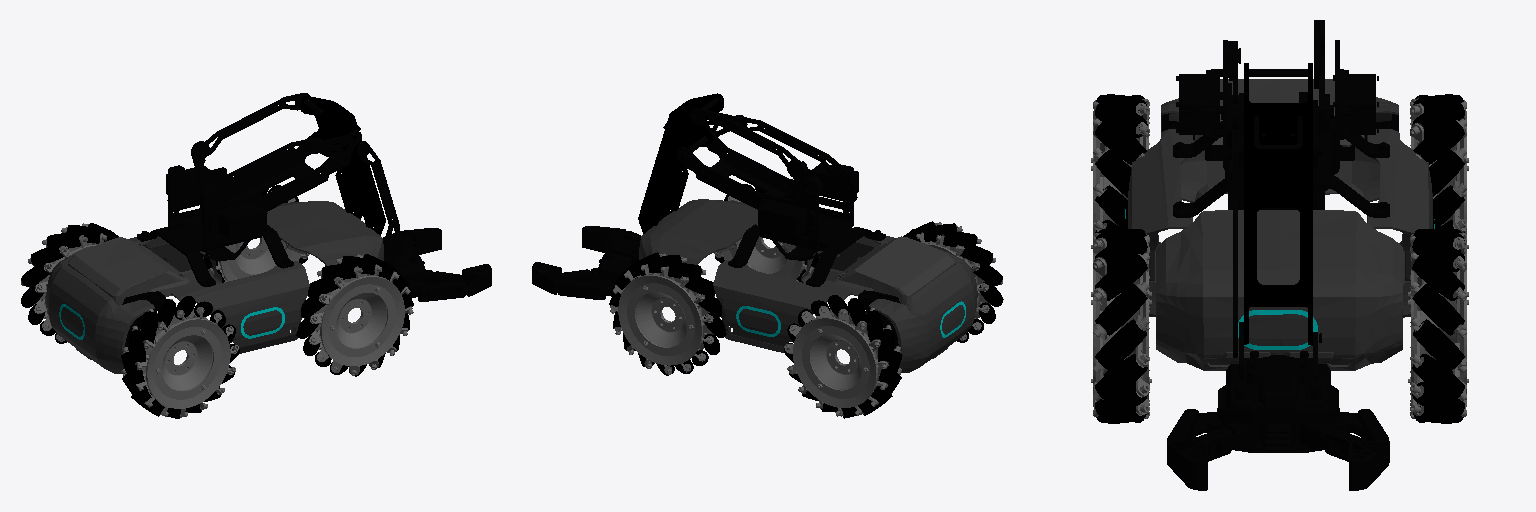
--- Facts derived from the render (not from the file) ---
3 views of the same robot in one strip: view 1: azimuth 30°, elevation 25°; view 2: azimuth 150°, elevation 25°; view 3: azimuth 270°, elevation 25° (orthographic).
Robot: robomaster_ep — 99 links, 98 joints (2 revolute, 64 continuous, 32 fixed); root link base_link; default pose: every joint at zero.
Visible links, largest first — view 1: chassis_base_link, arm_base_link, front_right_wheel_link, rear_right_wheel_link, arm_2_link, arm_1_link, front_left_wheel_link, rod_1_link, rod_3_link, rod_2_link, triangle_link, gripper_link (+5 smaller); view 2: chassis_base_link, arm_base_link, rear_left_wheel_link, front_left_wheel_link, arm_2_link, arm_1_link, front_right_wheel_link, rod_2_link, rod_3_link, gripper_link, right_gripper_link_5, left_gripper_link_5 (+4 smaller); view 3: chassis_base_link, arm_2_link, arm_base_link, gripper_link, front_right_wheel_link, front_left_wheel_link, right_gripper_link_5, left_gripper_link_5, front_left_roller7_link, front_left_roller8_link, front_right_roller7_link, front_right_roller8_link (+28 smaller).
Boxes of the visible links, x1=… form: chassis_base_link: x1=46, y1=201, x2=383, y2=373; arm_base_link: x1=137, y1=165, x2=293, y2=286; front_right_wheel_link: x1=304, y1=255, x2=412, y2=374; rear_right_wheel_link: x1=123, y1=308, x2=237, y2=417; arm_2_link: x1=301, y1=96, x2=385, y2=235; arm_1_link: x1=211, y1=132, x2=345, y2=211; front_left_wheel_link: x1=210, y1=193, x2=307, y2=282; rod_1_link: x1=357, y1=141, x2=399, y2=253; rod_3_link: x1=196, y1=93, x2=309, y2=158; rod_2_link: x1=206, y1=138, x2=317, y2=195; triangle_link: x1=308, y1=130, x2=361, y2=166; gripper_link: x1=384, y1=236, x2=425, y2=298; chassis_base_link: x1=639, y1=199, x2=977, y2=372; arm_base_link: x1=728, y1=163, x2=885, y2=286; rear_left_wheel_link: x1=785, y1=306, x2=900, y2=416; front_left_wheel_link: x1=610, y1=254, x2=719, y2=373; arm_2_link: x1=638, y1=93, x2=723, y2=233; arm_1_link: x1=676, y1=130, x2=822, y2=209; front_right_wheel_link: x1=715, y1=196, x2=813, y2=281; rod_2_link: x1=732, y1=116, x2=847, y2=180; rod_3_link: x1=689, y1=108, x2=797, y2=166; gripper_link: x1=598, y1=234, x2=639, y2=296; right_gripper_link_5: x1=582, y1=226, x2=628, y2=252; left_gripper_link_5: x1=532, y1=262, x2=569, y2=294; chassis_base_link: x1=1128, y1=79, x2=1432, y2=370; arm_2_link: x1=1244, y1=63, x2=1321, y2=345; arm_base_link: x1=1173, y1=40, x2=1389, y2=217; gripper_link: x1=1218, y1=351, x2=1338, y2=452; front_right_wheel_link: x1=1091, y1=233, x2=1151, y2=418; front_left_wheel_link: x1=1408, y1=233, x2=1468, y2=415; right_gripper_link_5: x1=1167, y1=440, x2=1207, y2=490; left_gripper_link_5: x1=1349, y1=440, x2=1389, y2=490; front_left_roller7_link: x1=1410, y1=282, x2=1466, y2=337; front_left_roller8_link: x1=1410, y1=317, x2=1466, y2=372; front_right_roller7_link: x1=1093, y1=282, x2=1149, y2=337; front_right_roller8_link: x1=1093, y1=317, x2=1149, y2=372.
Bounding box of the posed robot: 0.4522 × 0.2387 × 0.2526 m (x, y, z).
Meshes: 38 distinct files referenced, 105 mesh visuals loaded (37 Collada DAE); not drawn: 1 (reference not matched to a file when rendering).

robot.urdf — robomaster_ep:
<?xml version="1.0" ?>
<!-- =================================================================================== -->
<!-- |    This document was autogenerated by xacro from robomaster_ep.urdf.xacro       | -->
<!-- |    EDITING THIS FILE BY HAND IS NOT RECOMMENDED                                 | -->
<!-- =================================================================================== -->
<robot name="robomaster_ep">
  <link name="base_link"/>
  <link name="chassis_base_link">
    <inertial>
      <origin rpy="0 0 0" xyz="-0.0058789 -0.0001128 0.0294307"/>
      <mass value="9.934"/>
      <inertia ixx="0.01451" ixy="0" ixz="0" iyy="0.00512" iyz="0" izz="0.01759"/>
    </inertial>
    <visual name="armor">
      <origin rpy="0 0 0" xyz="-0.0064553 -0.078141 0.0292877"/>
      <geometry>
        <mesh filename="../meshes/armor.dae" scale="1.0 1.0 1.0"/>
      </geometry>
      <material name="armor_plastic"/>
    </visual>
    <visual name="battery">
      <origin rpy="0 0 0" xyz="-0.130336 -0.0018702 0.0174177"/>
      <geometry>
        <mesh filename="../meshes/battery.dae" scale="1.0 1.0 1.0"/>
      </geometry>
      <material name="dark_plastic"/>
    </visual>
    <visual name="battery_pin_left">
      <origin rpy="0 0 0" xyz="-0.1158907 0.066115 0.0525243"/>
      <geometry>
        <mesh filename="../meshes/battery_pin_left.dae" scale="1.0 1.0 1.0"/>
      </geometry>
      <material name="dark_plastic"/>
    </visual>
    <visual name="battery_pin_right">
      <origin rpy="0 0 0" xyz="-0.1158907 -0.0658844 0.0525243"/>
      <geometry>
        <mesh filename="../meshes/battery_pin_right.dae" scale="1.0 1.0 1.0"/>
      </geometry>
      <material name="dark_plastic"/>
    </visual>
    <visual name="chassis">
      <origin rpy="0 0 0" xyz="-0.0059039 0.0004154 0.0527955"/>
      <geometry>
        <mesh filename="../meshes/chassis.dae" scale="1.0 1.0 1.0"/>
      </geometry>
      <material name="chassis"/>
    </visual>
    <visual name="controller">
      <origin rpy="0 0 0" xyz="-0.1142288 -0.0006716 0.052675"/>
      <geometry>
        <mesh filename="../meshes/controller.dae" scale="1.0 1.0 1.0"/>
      </geometry>
      <material name="dark_plastic"/>
    </visual>
    <visual name="controller_cover">
      <origin rpy="0 0 0" xyz="-0.0787757 -0.002522 0.0720827"/>
      <geometry>
        <mesh filename="../meshes/controller_cover.dae" scale="1.0 1.0 1.0"/>
      </geometry>
      <material name="cover_plastic"/>
    </visual>
    <collision name="base_collision">
      <origin rpy="0 0 0" xyz="-0.0058789 -0.0001128 0.0294307"/>
      <geometry>
        <mesh filename="../meshes/base_collision.dae" scale="1.0 1.0 1.0"/>
      </geometry>
    </collision>
  </link>
  <joint name="chassis_base_joint" type="fixed">
    <origin rpy="0 0 0" xyz="0 0 0.03465"/>
    <parent link="base_link"/>
    <child link="chassis_base_link"/>
  </joint>
  <link name="front_hit_sensor_link">
    <inertial>
      <origin rpy="0 0 0" xyz="0 0 0"/>
      <mass value="0.001"/>
      <inertia ixx="0.001" ixy="0" ixz="0" iyy="0.001" iyz="0" izz="0.001"/>
    </inertial>
    <visual name="front_hit_sensor">
      <origin rpy="0 0 0" xyz="0 0 0"/>
      <geometry>
        <mesh filename="../meshes/hit_sensor.dae" scale="1.0 1.0 1.0"/>
      </geometry>
      <material name="hit_detector"/>
    </visual>
  </link>
  <link name="front_led_link">
    <inertial>
      <origin rpy="0 0 0" xyz="0 0 0"/>
      <mass value="0.001"/>
      <inertia ixx="0.001" ixy="0" ixz="0" iyy="0.001" iyz="0" izz="0.001"/>
    </inertial>
    <visual name="front_led">
      <origin rpy="0 0 0" xyz="0 0 0"/>
      <geometry>
        <mesh filename="../meshes/led.dae" scale="1.0 1.0 1.0"/>
      </geometry>
      <material name="led_light"/>
    </visual>
  </link>
  <joint name="front_hit_sensor_joint" type="fixed">
    <origin rpy="0 0 0" xyz="0.1569985 -0.0004276 0.0432862"/>
    <parent link="chassis_base_link"/>
    <child link="front_hit_sensor_link"/>
  </joint>
  <joint name="front_led_joint" type="fixed">
    <origin rpy="0 0 0" xyz="0.0087428 -0.0012841 3.75e-05"/>
    <parent link="front_hit_sensor_link"/>
    <child link="front_led_link"/>
  </joint>
  <link name="left_hit_sensor_link">
    <inertial>
      <origin rpy="0 0 0" xyz="0 0 0"/>
      <mass value="0.001"/>
      <inertia ixx="0.001" ixy="0" ixz="0" iyy="0.001" iyz="0" izz="0.001"/>
    </inertial>
    <visual name="left_hit_sensor">
      <origin rpy="0 0 0" xyz="0 0 0"/>
      <geometry>
        <mesh filename="../meshes/hit_sensor.dae" scale="1.0 1.0 1.0"/>
      </geometry>
      <material name="hit_detector"/>
    </visual>
  </link>
  <link name="left_led_link">
    <inertial>
      <origin rpy="0 0 0" xyz="0 0 0"/>
      <mass value="0.001"/>
      <inertia ixx="0.001" ixy="0" ixz="0" iyy="0.001" iyz="0" izz="0.001"/>
    </inertial>
    <visual name="left_led">
      <origin rpy="0 0 0" xyz="0 0 0"/>
      <geometry>
        <mesh filename="../meshes/led.dae" scale="1.0 1.0 1.0"/>
      </geometry>
      <material name="led_light"/>
    </visual>
  </link>
  <joint name="left_hit_sensor_joint" type="fixed">
    <origin rpy="0 0 1.5707963267948966" xyz="-0.0024413 0.0886932 0.0298341"/>
    <parent link="chassis_base_link"/>
    <child link="left_hit_sensor_link"/>
  </joint>
  <joint name="left_led_joint" type="fixed">
    <origin rpy="0 0 0" xyz="0.0087428 -0.0012841 3.75e-05"/>
    <parent link="left_hit_sensor_link"/>
    <child link="left_led_link"/>
  </joint>
  <link name="rear_hit_sensor_link">
    <inertial>
      <origin rpy="0 0 0" xyz="0 0 0"/>
      <mass value="0.001"/>
      <inertia ixx="0.001" ixy="0" ixz="0" iyy="0.001" iyz="0" izz="0.001"/>
    </inertial>
    <visual name="rear_hit_sensor">
      <origin rpy="0 0 0" xyz="0 0 0"/>
      <geometry>
        <mesh filename="../meshes/hit_sensor.dae" scale="1.0 1.0 1.0"/>
      </geometry>
      <material name="hit_detector"/>
    </visual>
  </link>
  <link name="rear_led_link">
    <inertial>
      <origin rpy="0 0 0" xyz="0 0 0"/>
      <mass value="0.001"/>
      <inertia ixx="0.001" ixy="0" ixz="0" iyy="0.001" iyz="0" izz="0.001"/>
    </inertial>
    <visual name="rear_led">
      <origin rpy="0 0 0" xyz="0 0 0"/>
      <geometry>
        <mesh filename="../meshes/led.dae" scale="1.0 1.0 1.0"/>
      </geometry>
      <material name="led_light"/>
    </visual>
  </link>
  <joint name="rear_hit_sensor_joint" type="fixed">
    <origin rpy="0 0 3.141592653589793" xyz="-0.1581827 -0.0027864 0.0303668"/>
    <parent link="chassis_base_link"/>
    <child link="rear_hit_sensor_link"/>
  </joint>
  <joint name="rear_led_joint" type="fixed">
    <origin rpy="0 0 0" xyz="0.0087428 -0.0012841 3.75e-05"/>
    <parent link="rear_hit_sensor_link"/>
    <child link="rear_led_link"/>
  </joint>
  <link name="right_hit_sensor_link">
    <inertial>
      <origin rpy="0 0 0" xyz="0 0 0"/>
      <mass value="0.001"/>
      <inertia ixx="0.001" ixy="0" ixz="0" iyy="0.001" iyz="0" izz="0.001"/>
    </inertial>
    <visual name="right_hit_sensor">
      <origin rpy="0 0 0" xyz="0 0 0"/>
      <geometry>
        <mesh filename="../meshes/hit_sensor.dae" scale="1.0 1.0 1.0"/>
      </geometry>
      <material name="hit_detector"/>
    </visual>
  </link>
  <link name="right_led_link">
    <inertial>
      <origin rpy="0 0 0" xyz="0 0 0"/>
      <mass value="0.001"/>
      <inertia ixx="0.001" ixy="0" ixz="0" iyy="0.001" iyz="0" izz="0.001"/>
    </inertial>
    <visual name="right_led">
      <origin rpy="0 0 0" xyz="0 0 0"/>
      <geometry>
        <mesh filename="../meshes/led.dae" scale="1.0 1.0 1.0"/>
      </geometry>
      <material name="led_light"/>
    </visual>
  </link>
  <joint name="right_hit_sensor_joint" type="fixed">
    <origin rpy="0 0 -1.5707963267948966" xyz="-0.0024413 -0.0886932 0.0298341"/>
    <parent link="chassis_base_link"/>
    <child link="right_hit_sensor_link"/>
  </joint>
  <joint name="right_led_joint" type="fixed">
    <origin rpy="0 0 0" xyz="0.0087428 -0.0012841 3.75e-05"/>
    <parent link="right_hit_sensor_link"/>
    <child link="right_led_link"/>
  </joint>

  

  <material name="armor_plastic">
    <color rgba="0.2277128 0.2277128 0.2277128 0.8"/>
  </material>
  <material name="chassis">
    <color rgba="0.0981132 0.0981132 0.0981132 1.0"/>
  </material>
  <material name="cover_plastic">
    <color rgba="0.2548322 0.2548322 0.2548322 0.30000000000000004"/>
  </material>
  <material name="dark_plastic">
    <color rgba="0.0281746 0.0281746 0.0281746 1.0"/>
  </material>
  <material name="metal">
    <color rgba="0.0281746 0.028 0.0281746 1.0"/>
  </material>
  <material name="hit_detector">
    <color rgba="0.1697846 0.1697846 0.1697846 1.0"/>
  </material>
  <material name="led_light">
    <color rgba="0 0.7773585 0.7773583 1.0"/>
  </material>
  <material name="wheel_plastic">
    <color rgba="0.2739087 0.2739087 0.2739087 1.0"/>
  </material>
  <material name="EP_up.001">
    <color rgba="0.0284811 0.0284811 0.0284811 1.0"/>
  </material>
  <link name="arm_1_link">
    <inertial>
      <origin rpy="0 0 0" xyz="-0.0005586 0.023592 0.0011729"/>
      <mass value="0.056"/>
      <inertia ixx="0.0156113" ixy="2.43e-05" ixz="1.8e-06" iyy="0.0161553" iyz="-0.0023011" izz="0.0018092"/>
    </inertial>
    <visual name="arm_1">
      <origin rpy="0 0 0" xyz="0.0073108 0.0184816 0.0437162"/>
      <geometry>
        <mesh filename="../meshes/arm_1.dae" scale="1.0 1.0 1.0"/>
      </geometry>
      <material name="metal"/>
    </visual>
    <visual name="arm_1_cylinder">
      <origin rpy="0 0 0" xyz="-0.0239031 0.0255713 -0.0368083"/>
      <geometry>
        <mesh filename="../meshes/arm_1_cylinder.dae" scale="1.0 1.0 1.0"/>
      </geometry>
      <material name="metal"/>
    </visual>
    <collision name="arm_1_collision">
      <origin rpy="0 0 0" xyz="0.0065116 0.0213649 0.0639448"/>
      <geometry>
        <mesh filename="../meshes/arm_1_collision.dae" scale="1.0 1.0 1.0"/>
      </geometry>
    </collision>
  </link>
  <!-- <link name="arm_2_dummy">
    </link> -->
  <link name="arm_2_link">
    <inertial>
      <origin rpy="0 0 0" xyz="0.0222614 -0.0202749 -0.008504"/>
      <mass value="0.08"/>
      <inertia ixx="0.0118624" ixy="1e-06" ixz="-3e-07" iyy="0.0041691" iyz="0.0031106" izz="0.0101456"/>
    </inertial>
    <visual name="arm_2">
      <origin rpy="0 0 0" xyz="0.0256122 -0.020134 -0.001308"/>
      <geometry>
        <mesh filename="../meshes/arm_2.dae" scale="1.0 1.0 1.0"/>
      </geometry>
      <material name="Test">
        <color rgba="0.0 0.0 0.0 1.0"/>
      </material>
    </visual>
    <visual name="arm_2_bar_1">
      <origin rpy="0 0 0" xyz="7.62e-05 0.0010863 -0.0002509"/>
      <geometry>
        <mesh filename="../meshes/arm_2_bar_1.dae" scale="1.0 1.0 1.0"/>
      </geometry>
      <material name="metal"/>
    </visual>
    <visual name="arm_2_bar_2">
      <origin rpy="0 0 0" xyz="-0.0423232 -0.0099192 0.0221971"/>
      <geometry>
        <mesh filename="../meshes/arm_2_bar_2.dae" scale="1.0 1.0 1.0"/>
      </geometry>
      <material name="metal"/>
    </visual>
    <collision name="arm_2_collision">
      <origin rpy="0 0 0" xyz="0.0222614 -0.0202749 -0.008504"/>
      <geometry>
        <mesh filename="../meshes/arm_2_collision.dae" scale="1.0 1.0 1.0"/>
      </geometry>
    </collision>
  </link>
  <!-- <link name="arm_base_attachment_link">
      <inertial>
        <origin xyz="0 0 0" rpy="0 0 0"/>
        <mass value="0.001"/>
        <inertia ixx="0.001" ixy="0" ixz="0" iyy="0.001" iyz="0" izz="0.001"/>
      </inertial>
    </link> -->
  <link name="arm_base_link">
    <inertial>
      <origin rpy="0 0 0" xyz="0 0 0"/>
      <mass value="0.3"/>
      <inertia ixx="0.0023" ixy="0" ixz="0" iyy="0.0025" iyz="0" izz="0.00072"/>
    </inertial>
    <visual name="arm_base">
      <origin rpy="0 0 0" xyz="-0.0008983 -0.0029745 -2.44e-05"/>
      <geometry>
        <mesh filename="../meshes/arm_base.dae" scale="1.0 1.0 1.0"/>
      </geometry>
      <material name="metal"/>
    </visual>
    <visual name="left_servo">
      <origin rpy="0 0 0" xyz="-0.013507 0 -0.0060673"/>
      <geometry>
        <mesh filename="../meshes/left_servo.dae" scale="1.0 1.0 1.0"/>
      </geometry>
      <material name="metal"/>
    </visual>
    <visual name="right_servo">
      <origin rpy="0 0 0" xyz="-0.013507 0 -0.0060673"/>
      <geometry>
        <mesh filename="../meshes/right_servo.dae" scale="1.0 1.0 1.0"/>
      </geometry>
      <material name="metal"/>
    </visual>
    <collision name="arm_base_collision">
      <origin rpy="0 0 0" xyz="-0.002098 -0.0004909 0.0073523"/>
      <geometry>
        <mesh filename="../meshes/arm_base_collision.dae" scale="1.0 1.0 1.0"/>
      </geometry>
    </collision>
  </link>
  <link name="end_point_link">
    </link>
  <link name="endpoint_bracket_link">
    <inertial>
      <origin rpy="0 0 0" xyz="0.0116468 -0.0288044 0.0041342"/>
      <mass value="0.028"/>
      <inertia ixx="0.0004413" ixy="0.0001147" ixz="2.69e-05" iyy="0.0008301" iyz="-2.89e-05" izz="0.0008237"/>
    </inertial>
    <visual name="endpoint_bracket">
      <origin rpy="0 0 0" xyz="0.0071657 -0.0245846 0.0008407"/>
      <geometry>
        <mesh filename="../meshes/endpoint_bracket.dae" scale="1.0 1.0 1.0"/>
      </geometry>
      <material name="metal"/>
    </visual>
    <collision name="endpoint_bracket_collision">
      <origin rpy="0 0 0" xyz="0.0116468 -0.0288044 0.0041342"/>
      <geometry>
        <mesh filename="../meshes/endpoint_bracket_collision.dae" scale="1.0 1.0 1.0"/>
      </geometry>
    </collision>
  </link>
  <!-- <link name="rod_1_dummy">
    </link> -->
  <link name="rod_1_link">
    <inertial>
      <origin rpy="0 0 0" xyz="-0.0477809 0 0.0272644"/>
      <mass value="0.012"/>
      <inertia ixx="0.0016031" ixy="0" ixz="0" iyy="0.0004085" iyz="0.000657" izz="0.0011959"/>
    </inertial>
    <visual name="rod_1">
      <origin rpy="0 0 0" xyz="-0.0479737 0 0.0301898"/>
      <geometry>
        <mesh filename="../meshes/rod_1.dae" scale="1.0 1.0 1.0"/>
      </geometry>
      <material name="metal"/>
    </visual>
    <collision name="rod_1_collision">
      <origin rpy="0 0 0" xyz="-0.0477809 0 0.0272644"/>
      <geometry>
        <mesh filename="../meshes/rod_1_collision.dae" scale="1.0 1.0 1.0"/>
      </geometry>
    </collision>
  </link>
  <!-- <link name="rod_2_dummy">
      <inertial>
        <origin xyz="0 0 0" rpy="0 0 0"/>
        <mass value="0.001"/>
        <inertia ixx="0.001" ixy="0" ixz="0" iyy="0.001" iyz="0" izz="0.001"/>
      </inertial>
    </link> -->
  <link name="rod_2_link">
    <inertial>
      <origin rpy="0 0 0" xyz="0.0011528 0 0.0549123"/>
      <mass value="0.012"/>
      <inertia ixx="0.0016147" ixy="0" ixz="0" iyy="0.0015792" iyz="-3.39e-05" izz="3.69e-05"/>
    </inertial>
    <visual name="rod_2">
      <origin rpy="0 0 0" xyz="-0.0012722 0 0.0561361"/>
      <geometry>
        <mesh filename="../meshes/rod_2.dae" scale="1.0000004 1.0 0.9999998"/>
      </geometry>
      <material name="metal"/>
    </visual>
    <collision name="rod_2_collision">
      <origin rpy="0 0 0" xyz="0.0011528 0 0.0549123"/>
      <geometry>
        <mesh filename="../meshes/rod_2_collision.dae" scale="1.0000004 1.0 0.9999998"/>
      </geometry>
    </collision>
  </link>
  <!-- <link name="rod_3_dummy">
      <inertial>
        <origin xyz="0 0 0" rpy="0 0 0"/>
        <mass value="0.001"/>
        <inertia ixx="0.001" ixy="0" ixz="0" iyy="0.001" iyz="0" izz="0.001"/>
      </inertial>
    </link> -->
  <link name="rod_3_link">
    <inertial>
      <origin rpy="0 0 0" xyz="-0.0003574 9.5e-06 0.0001674"/>
      <mass value="0.012"/>
      <inertia ixx="0.0059201" ixy="0" ixz="0" iyy="0.005887" iyz="1.87e-05" izz="3.45e-05"/>
    </inertial>
    <visual name="rod_3">
      <origin rpy="0 0 0" xyz="-0.0017304 0 0.0633558"/>
      <geometry>
        <mesh filename="../meshes/rod_3.dae" scale="1.0 1.0 1.0"/>
      </geometry>
      <material name="metal"/>
    </visual>
    <collision name="rod_3_collision">
      <origin rpy="0 0 0" xyz="0.0004696 9.5e-06 0.0561803"/>
      <geometry>
        <mesh filename="../meshes/rod_3_collision.dae" scale="1.0 1.0 1.0"/>
      </geometry>
    </collision>
  </link>
  <link name="rod_link">
    <inertial>
      <origin rpy="0 0 0" xyz="-8.11e-05 0.0023793 8.58e-05"/>
      <mass value="0.011"/>
      <inertia ixx="0.0009103" ixy="0" ixz="0" iyy="0.0002029" iyz="0.0003431" izz="0.0007136"/>
    </inertial>
    <visual name="rod">
      <origin rpy="0 0 0" xyz="-0.0261857 0.0022566 0.0121229"/>
      <geometry>
        <mesh filename="../meshes/rod.dae" scale="1.0 1.0 1.0"/>
      </geometry>
      <material name="metal"/>
    </visual>
    <collision name="rod_collision">
      <origin rpy="0 0 0" xyz="-0.02432 0.0022871 0.0136485"/>
      <geometry>
        <mesh filename="../meshes/rod_collision.dae" scale="1.0 1.0 1.0"/>
      </geometry>
    </collision>
  </link>
  <!-- <link name="triangle_1_dummy">
      <inertial>
        <origin xyz="0 0 0" rpy="0 0 0"/>
        <mass value="0.001"/>
        <inertia ixx="0.001" ixy="0" ixz="0" iyy="0.001" iyz="0" izz="0.001"/>
      </inertial>
    </link> -->
  <!-- <link name="triangle_2_dummy">
    </link> -->
  <link name="triangle_link">
    <inertial>
      <origin rpy="0 0 0" xyz="0.1417841 0.0321051 -0.1257179"/>
      <mass value="0.009"/>
      <inertia ixx="0.0205056" ixy="0.0021202" ixz="-0.0023248" iyy="0.0097562" iyz="0.0101162" izz="0.0117256"/>
    </inertial>
    <visual name="triangle">
      <origin rpy="0 0 0" xyz="-0.0095953 0 0.0131247"/>
      <geometry>
        <mesh filename="../meshes/triangle.dae" scale="1.0 1.0 1.0"/>
      </geometry>
      <material name="metal"/>
    </visual>
    <collision name="triangle_collision">
      <origin rpy="0 0 0" xyz="-0.0091994 0 0.012377"/>
      <geometry>
        <mesh filename="../meshes/triangle_collision.dae" scale="1.0 1.0 1.0"/>
      </geometry>
    </collision>
  </link>
  <joint name="arm_1_joint" type="fixed">
    <origin rpy="0 1.3 0" xyz="0.0103961 -0.0255713 0.030741"/>
    <parent link="arm_base_link"/>
    <child link="arm_1_link"/>
    <axis xyz="0.0 1.0 0"/>
    <limit effort="1" lower="-0.274" upper="1.384" velocity="1"/>
  </joint>
  <!-- <joint name="arm_2_dummy" type="floating">
      <origin xyz="-0.0419304 0.0028425 0.0218356" rpy="0 0 0"/>
      <parent link="arm_2_link"/>
      <child link="arm_2_dummy"/>
    </joint> -->
  <joint name="arm_2_joint" type="fixed">
    <origin rpy="0 -0.5 0" xyz="0.0018704 0.0438659 0.1210238"/>
    <parent link="arm_1_link"/>
    <child link="arm_2_link"/>
    <axis xyz="0.0 1.0 0"/>
    <limit effort="1" velocity="1"/>
    <mimic joint="rod_3_joint" multiplier="-1.0" offset="0.0"/>
  </joint>
  <!-- <joint name="arm_base_attachment_joint" type="fixed">
      <origin xyz="0 0.0010384 0.0906477" rpy="0 0 0"/>
      <parent link="base_link"/>
      <child link="arm_base_attachment_link"/>
    </joint> -->
  <joint name="arm_base_joint" type="fixed">
    <origin rpy="0 0 0" xyz="0 0.0010384 0.0906477"/>
    <parent link="chassis_base_link"/>
    <child link="arm_base_link"/>
  </joint>
  <!-- <joint name="attachement_link" type="floating">
      <origin xyz="0 0 0" rpy="0 0 0"/>
      <parent link="arm_base_link"/>
      <child link="attachement_link"/>
    </joint> -->
  <joint name="end_point_joint" type="fixed">
    <origin rpy="0 0 0" xyz="0.0110125 -0.0270264 -0.0103816"/>
    <parent link="endpoint_bracket_link"/>
    <child link="end_point_link"/>
  </joint>
  <joint name="endpoint_bracket_joint" type="fixed">
    <origin rpy="0 0 0" xyz="0.1058557 0.006752 -0.0561093"/>
    <parent link="arm_2_link"/>
    <child link="endpoint_bracket_link"/>
    <axis xyz="0.0 1.0 0"/>
    <mimic joint="rod_joint" multiplier="-1.0" offset="0.0"/>
    <!-- <limit effort="0" velocity="0"/> -->
  </joint>
  <!-- <joint name="rod_1_dummy" type="floating">
      <origin xyz="-0.1048751 0 0.0582511" rpy="0 0 0"/>
      <parent link="rod_1_link"/>
      <child link="rod_1_dummy"/>
    </joint> -->
  <joint name="rod_1_joint" type="fixed">
    <origin rpy="0 -0.021293 0" xyz="0.0134583 -0.0540971 0.0213068"/>
    <parent link="endpoint_bracket_link"/>
    <child link="rod_1_link"/>
    <axis xyz="0.0 1.0 0"/>
    <mimic joint="rod_joint" multiplier="1.0" offset="0.0"/>
  </joint>
  <!-- <joint name="rod_2_dummy" type="floating">
      <origin xyz="0.0036225 0 0.1198535" rpy="0 0 0"/>
      <parent link="rod_2_link"/>
      <child link="rod_2_dummy"/>
    </joint> -->
  <joint name="rod_2_joint" type="fixed">
    <origin rpy="0 1.3 0" xyz="-0.0224276 -0.0290701 0.0554782"/>
    <parent link="arm_base_link"/>
    <child link="rod_2_link"/>
    <axis xyz="0.0 1.0 0"/>
    <mimic joint="arm_1_joint" multiplier="1.0" offset="0.0"/>
    <!-- <limit effort="0" velocity="0"/> -->
  </joint>
  <!-- <joint name="rod_3_dummy" type="floating">
      <origin xyz="0.0029281 -0.0007404 0.1193638" rpy="0 0 0"/>
      <parent link="rod_3_link"/>
      <child link="rod_3_dummy"/>
    </joint> -->
  <joint name="rod_3_joint" type="fixed">
    <origin rpy="0 0.5 0" xyz="-0.042397 0.0004533 0.0223131"/>
    <parent link="rod_link"/>
    <child link="rod_3_link"/>
    <axis xyz="0.0 1.0 0"/>
    <limit effort="1" lower="-0.34732" upper="1.21475" velocity="1"/>
  </joint>
  <joint name="rod_joint" type="fixed">
    <origin rpy="0 0.8 0" xyz="0.009805 0.0214241 0.0319234"/>
    <parent link="arm_base_link"/>
    <child link="rod_link"/>
    <axis xyz="0.0 1.0 0"/>
    <limit effort="1" lower="-0.79936" upper="1.73137" velocity="1"/>
  </joint>
  <!-- <joint name="triangle_1_dummy" type="floating">
      <origin xyz="-0.037193 0 0.0147539" rpy="0 0 0"/>
      <parent link="triangle_link"/>
      <child link="triangle_1_dummy"/>
    </joint>

    <joint name="triangle_2_dummy" type="floating">
      <origin xyz="0.0077464 6.66e-05 0.0235099" rpy="0 0 0"/>
      <parent link="triangle_link"/>
      <child link="triangle_2_dummy"/>
    </joint> -->
  <joint name="triangle_joint" type="fixed">
    <origin rpy="0 -1.1 0" xyz="0.0020224 -0.007103 0.1212334"/>
    <parent link="arm_1_link"/>
    <child link="triangle_link"/>
    <axis xyz="0.0 1.0 0"/>
    <mimic joint="arm_1_joint" multiplier="-1.0" offset="0.0"/>
  </joint>




  <link name="left_gripper_link_1">
    <inertial>
      <origin rpy="0 0 0" xyz="0 0 0"/>
      <mass value="0.001"/>
      <inertia ixx="0.001" ixy="0" ixz="0" iyy="0.001" iyz="0" izz="0.001"/>
    </inertial>
    <visual name="left_gripper_1">
      <origin rpy="0 0 0" xyz="-1.52e-05 8.12e-05 -2.25e-05"/>
      <geometry>
        <mesh filename="../meshes/gripper_left_1.dae" scale="1.0 1.0 1.0"/>
      </geometry>
      <material name="EP_up.001"/>
    </visual>
  </link>
  <link name="left_gripper_link_2">
    <inertial>
      <origin rpy="0 0 0" xyz="0 0 0"/>
      <mass value="0.001"/>
      <inertia ixx="0.001" ixy="0" ixz="0" iyy="0.001" iyz="0" izz="0.001"/>
    </inertial>
    <visual name="left_gripper_2">
      <origin rpy="0 0 0" xyz="0.0135565 -0.0033557 -2.25e-05"/>
      <geometry>
        <mesh filename="../meshes/gripper_left_2.dae" scale="1.0 1.0 1.0"/>
      </geometry>
      <material name="EP_up.001"/>
    </visual>
    <collision name="left_gripper_2_collision">
      <origin rpy="0 0 0" xyz="0.0136108 -0.003318 -0.0296613"/>
      <geometry>
        <mesh filename="../meshes/gripper_left_2_collision.dae" scale="1.0 1.0 1.0"/>
      </geometry>
    </collision>
  </link>
  <!-- <link name="left_gripper_link_3_dummy">
          <inertial>
            <origin xyz="0 0 0" rpy="0 0 0"/>
            <mass value="0.001"/>
            <inertia ixx="0.001" ixy="0" ixz="0" iyy="0.001" iyz="0" izz="0.001"/>
          </inertial>
        </link> -->
  <link name="left_gripper_link_4">
    <inertial>
      <origin rpy="0 0 0" xyz="0 0 0"/>
      <mass value="0.001"/>
      <inertia ixx="0.001" ixy="0" ixz="0" iyy="0.001" iyz="0" izz="0.001"/>
    </inertial>
    <visual name="left_gripper_4">
      <origin rpy="0 0 0" xyz="-4.74e-05 0.0001737 -1.67e-05"/>
      <geometry>
        <mesh filename="../meshes/gripper_left_4.dae" scale="1.0 1.0 1.0"/>
      </geometry>
      <material name="EP_up.001"/>
    </visual>
    <collision name="left_gripper_4_collision">
      <origin rpy="0 0 0" xyz="-7.56e-05 -2.97e-05 -0.0296554"/>
      <geometry>
        <mesh filename="../meshes/gripper_left_4_collision.dae" scale="1.0 1.0 1.0"/>
      </geometry>
    </collision>
  </link>
  <link name="left_gripper_link_5">
    <inertial>
      <origin rpy="0 0 0" xyz="0 0 0"/>
      <mass value="0.001"/>
      <inertia ixx="0.001" ixy="0" ixz="0" iyy="0.001" iyz="0" izz="0.001"/>
    </inertial>
    <visual name="left_gripper_5">
      <origin rpy="0 0 0" xyz="-7.26e-05 -1.8e-06 -1.83e-05"/>
      <geometry>
        <mesh filename="../meshes/gripper_left_5.dae" scale="1.0 1.0 1.0"/>
      </geometry>
      <material name="EP_up.001"/>
    </visual>
    <collision name="left_gripper_5_collision">
      <origin rpy="0 0 0" xyz="-7.26e-05 -1.8e-06 -1.83e-05"/>
      <geometry>
        <mesh filename="../meshes/gripper_left_5_collision.dae" scale="1.0 1.0 1.0"/>
      </geometry>
    </collision>
  </link>
  <link name="left_gripper_link_6">
    <inertial>
      <origin rpy="0 0 0" xyz="0 0 0"/>
      <mass value="0.001"/>
      <inertia ixx="0.001" ixy="0" ixz="0" iyy="0.001" iyz="0" izz="0.001"/>
    </inertial>
    <visual name="left_gripper_6">
      <origin rpy="0 0 0" xyz="-0.0149194 -0.0168522 -1.83e-05"/>
      <geometry>
        <mesh filename="../meshes/gripper_left_6.dae" scale="1.0 1.0 1.0"/>
      </geometry>
      <material name="EP_up.001"/>
    </visual>
    <collision name="left_gripper_6_collision">
      <origin rpy="0 0 0" xyz="-0.0149892 -0.0167532 -0.0001821"/>
      <geometry>
        <mesh filename="../meshes/gripper_left_6_collision.dae" scale="1.0 1.0 1.0"/>
      </geometry>
    </collision>
  </link>
  <link name="left_gripper_link_7">
    <inertial>
      <origin rpy="0 0 0" xyz="0 0 0"/>
      <mass value="0.001"/>
      <inertia ixx="0.001" ixy="0" ixz="0" iyy="0.001" iyz="0" izz="0.001"/>
    </inertial>
    <visual name="left_gripper_7">
      <origin rpy="0 0 0" xyz="-0.0153264 -0.0166317 -1.83e-05"/>
      <geometry>
        <mesh filename="../meshes/gripper_left_7.dae" scale="1.0 1.0 1.0"/>
      </geometry>
      <material name="EP_up.001"/>
    </visual>
    <collision name="left_gripper_collision">
      <origin rpy="0 0 0" xyz="-0.0149126 -0.0167727 -0.0296388"/>
      <geometry>
        <mesh filename="../meshes/gripper_left_collision.dae" scale="1.0 1.0 1.0"/>
      </geometry>
    </collision>
  </link>
  <link name="gripper_link">
    <inertial>
      <origin rpy="0 0 0" xyz="0.0326578 -9.78e-05 -0.0327003"/>
      <mass value="0.15"/>
      <inertia ixx="0.0001376" ixy="7.89e-05" ixz="1.5e-06" iyy="0.0002582" iyz="2.9e-06" izz="0.0002497"/>
    </inertial>
    <visual name="gripper_base">
      <origin rpy="0 0 0" xyz="0 0 0"/>
      <geometry>
        <mesh filename="../meshes/gripper_base.dae" scale="1.0 1.0 1.0"/>
      </geometry>
      <material name="EP_up.001"/>
    </visual>
    <collision name="gripper_base_collision">
      <origin rpy="0 0 0" xyz="0.0003688 -9.78e-05 -0.0112797"/>
      <geometry>
        <mesh filename="../meshes/gripper_base_collision.dae" scale="1.0 1.0 1.0"/>
      </geometry>
    </collision>
  </link>
  <link name="gripper_m_link">
    <inertial>
      <origin rpy="0 0 0" xyz="0.0326578 -9.78e-05 -0.0327003"/>
      <mass value="0.15"/>
      <inertia ixx="0.0001376" ixy="7.89e-05" ixz="1.5e-06" iyy="0.0002582" iyz="2.9e-06" izz="0.0002497"/>
    </inertial>
  </link>
  <link name="gripper_t_link">

      </link>
  <joint name="gripper_m_joint" type="fixed">
    <limit effort="10000" lower="-0.023" upper="0.001" velocity="1"/>
    <origin rpy="0 0 0" xyz="0 0 0"/>
    <parent link="gripper_link"/>
    <child link="gripper_m_link"/>
    <axis xyz="-1 0 0"/>
  </joint>
  <!-- <link name="left_gripper_8_link_dummy">
          <inertial>
            <origin xyz="0 0 0" rpy="0 0 0"/>
            <mass value="0.001"/>
            <inertia ixx="0.001" ixy="0" ixz="0" iyy="0.001" iyz="0" izz="0.001"/>
          </inertial>
        </link> -->
  <link name="right_gripper_link_1">
    <inertial>
      <origin rpy="0 0 0" xyz="0 0 0"/>
      <mass value="0.001"/>
      <inertia ixx="0.001" ixy="0" ixz="0" iyy="0.001" iyz="0" izz="0.001"/>
    </inertial>
    <visual name="right_gripper_1">
      <origin rpy="0 0 0" xyz="-1.52e-05 -8.12e-05 -2.25e-05"/>
      <geometry>
        <mesh filename="../meshes/right_gripper_1.dae" scale="1.0 1.0 1.0"/>
      </geometry>
      <material name="EP_up.001"/>
    </visual>
  </link>
  <link name="right_gripper_link_2">
    <inertial>
      <origin rpy="0 0 0" xyz="0 0 0"/>
      <mass value="0.001"/>
      <inertia ixx="0.001" ixy="0" ixz="0" iyy="0.001" iyz="0" izz="0.001"/>
    </inertial>
    <visual name="right_gripper_2">
      <origin rpy="0 0 0" xyz="0.0127099 0.0021056 -2.25e-05"/>
      <geometry>
        <mesh filename="../meshes/right_gripper_2.dae" scale="1.0 1.0 1.0"/>
      </geometry>
      <material name="EP_up.001"/>
    </visual>
    <collision name="right_gripper_2_collision">
      <origin rpy="0 0 0" xyz="0.0134077 0.0024401 -0.0296613"/>
      <geometry>
        <mesh filename="../meshes/right_gripper_2_collision.dae" scale="1.0 1.0 1.0"/>
      </geometry>
    </collision>
  </link>
  <!-- <link name="right_gripper_link_3_dummy">
          <inertial>
            <origin xyz="0 0 0" rpy="0 0 0"/>
            <mass value="0.001"/>
            <inertia ixx="0.001" ixy="0" ixz="0" iyy="0.001" iyz="0" izz="0.001"/>
          </inertial>
        </link> -->
  <link name="right_gripper_link_4">
    <inertial>
      <origin rpy="0 0 0" xyz="0 0 0"/>
      <mass value="0.001"/>
      <inertia ixx="0.001" ixy="0" ixz="0" iyy="0.001" iyz="0" izz="0.001"/>
    </inertial>
    <visual name="right_gripper_4">
      <origin rpy="0 0 0" xyz="-4.74e-05 -0.0001737 -1.67e-05"/>
      <geometry>
        <mesh filename="../meshes/right_gripper_4.dae" scale="1.0 1.0 1.0"/>
      </geometry>
      <material name="EP_up.001"/>
    </visual>
    <collision name="right_gripper_4_collision">
      <origin rpy="0 0 0" xyz="-6.57e-05 1.16e-05 -0.0296554"/>
      <geometry>
        <mesh filename="../meshes/right_gripper_4_collision.dae" scale="1.0 1.0 1.0"/>
      </geometry>
    </collision>
  </link>
  <link name="right_gripper_link_5">
    <inertial>
      <origin rpy="0 0 0" xyz="0 0 0"/>
      <mass value="0.001"/>
      <inertia ixx="0.001" ixy="0" ixz="0" iyy="0.001" iyz="0" izz="0.001"/>
    </inertial>
    <visual name="right_gripper_5">
      <origin rpy="0 0 0" xyz="-7.26e-05 1.7e-06 -1.83e-05"/>
      <geometry>
        <mesh filename="../meshes/right_gripper_5.dae" scale="1.0 1.0 1.0"/>
      </geometry>
      <material name="EP_up.001"/>
    </visual>
    <collision name="right_gripper_5_collision">
      <origin rpy="0 0 0" xyz="-0.0001606 2.35e-05 8.1e-05"/>
      <geometry>
        <mesh filename="../meshes/right_gripper_5_collision.dae" scale="1.0 1.0 1.0"/>
      </geometry>
    </collision>
  </link>
  <link name="right_gripper_link_6">
    <inertial>
      <origin rpy="0 0 0" xyz="0 0 0"/>
      <mass value="0.001"/>
      <inertia ixx="0.001" ixy="0" ixz="0" iyy="0.001" iyz="0" izz="0.001"/>
    </inertial>
    <visual name="right_gripper_6">
      <origin rpy="0 0 0" xyz="-0.03103 0.0338258 -1.83e-05"/>
      <geometry>
        <mesh filename="../meshes/right_gripper_6.dae" scale="1.0 1.0 1.0"/>
      </geometry>
      <material name="EP_up.001"/>
    </visual>
    <collision name="right_gripper_6_collision">
      <origin rpy="0 0 0" xyz="-0.0156676 0.0173828 6.82e-05"/>
      <geometry>
        <mesh filename="../meshes/right_gripper_6_collision.dae" scale="1.0 1.0 1.0"/>
      </geometry>
    </collision>
  </link>
  <link name="right_gripper_link_7">
    <inertial>
      <origin rpy="0 0 0" xyz="0 0 0"/>
      <mass value="0.001"/>
      <inertia ixx="0.001" ixy="0" ixz="0" iyy="0.001" iyz="0" izz="0.001"/>
    </inertial>
    <visual name="right_gripper_7">
      <origin rpy="0 0 0" xyz="-3.72e-05 9e-07 -1.83e-05"/>
      <geometry>
        <mesh filename="../meshes/right_gripper_7.dae" scale="1.0 1.0 1.0"/>
      </geometry>
      <material name="EP_up.001"/>
    </visual>
    <collision name="right_gripper_7_collision">
      <origin rpy="0 0 0" xyz="-0.0150056 0.0168496 -0.0296388"/>
      <geometry>
        <mesh filename="../meshes/right_gripper_7_collision.dae" scale="1.0 1.0 1.0"/>
      </geometry>
    </collision>
  </link>
  <!-- <link name="right_gripper_link_8_dummy">
          <inertial>
            <origin xyz="0 0 0" rpy="0 0 0"/>
            <mass value="0.001"/>
            <inertia ixx="0.001" ixy="0" ixz="0" iyy="0.001" iyz="0" izz="0.001"/>
          </inertial>
        </link> -->
  <joint name="left_gripper_joint_1" type="revolute">
    <origin rpy="0 0 0" xyz="0.0163032 0.0212032 -0.0399201"/>
    <parent link="gripper_m_link"/>
    <child link="left_gripper_link_1"/>
    <axis xyz="0 0 1.0"/>
    <limit effort="10" lower="-0.4" upper="0" velocity="5"/>
  </joint>
  <joint name="left_gripper_joint_2" type="fixed">
    <origin rpy="0 0 0" xyz="0.0213495 0.0130363 0"/>
    <parent link="left_gripper_link_1"/>
    <child link="left_gripper_link_2"/>
    <axis xyz="0 0 1.0"/>
    <limit effort="1" velocity="1"/>
  </joint>
  <!-- <joint name="left_gripper_joint_3_dummy" type="fixed">
          <origin xyz="0.0136876 -0.0029412 0.0002778" rpy="0 0 0"/>
          <parent link="left_gripper_link_2"/>
          <child link="left_gripper_link_3_dummy"/>
        </joint> -->
  <joint name="left_gripper_joint_4" type="fixed">
    <origin rpy="0 0 0" xyz="0.00485 0.0204148 -5.8e-06"/>
    <parent link="left_gripper_link_2"/>
    <child link="left_gripper_link_4"/>
    <axis xyz="0 0 1.0"/>
    <limit effort="1" velocity="1"/>
  </joint>
  <joint name="left_gripper_joint_6" type="fixed">
    <origin rpy="0 0 0" xyz="0.0051144 -0.0140851 0"/>
    <parent link="left_gripper_link_5"/>
    <child link="left_gripper_link_6"/>
    <axis xyz="0 0 1.0"/>
    <limit effort="1" velocity="1"/>
  </joint>
  <joint name="left_gripper_joint_7" type="fixed">
    <origin rpy="0 0 0" xyz="-0.0148823 -0.0168513 0"/>
    <parent link="left_gripper_link_6"/>
    <child link="left_gripper_link_7"/>
    <axis xyz="0 0 1.0"/>
    <limit effort="1" velocity="1"/>
  </joint>
  <!-- <joint name="left_gripper_joint_8_dummy" type="fixed">
          <origin xyz="-0.014742 -0.0167196 -3.77e-05" rpy="0 0 0"/>
          <parent link="left_gripper_link_7"/>
          <child link="left_gripper_8_link_dummy"/>
        </joint> -->
  <joint name="left_gripper_joint_5" type="fixed">
    <origin rpy="0 0 0" xyz="0.0385916 0.0103143 1.6e-06"/>
    <parent link="left_gripper_link_4"/>
    <child link="left_gripper_link_5"/>
    <axis xyz="0 0 1.0"/>
    <limit effort="1" velocity="1"/>
  </joint>
  <joint name="gripper_joint" type="fixed">
    <origin rpy="0 -0.8 0" xyz="0.0002793 -0.027026 0.0001815"/>
    <parent link="endpoint_bracket_link"/>
    <child link="gripper_link"/>
  </joint>
  <joint name="right_gripper_joint_1" type="revolute">
    <origin rpy="0 0 0" xyz="0.0163034 -0.0209781 -0.0399201"/>
    <parent link="gripper_m_link"/>
    <child link="right_gripper_link_1"/>
    <axis xyz="0 0 1.0"/>
    <limit effort="10" lower="0" upper="0.4" velocity="5"/>
  </joint>
  <joint name="right_gripper_joint_2" type="fixed">
    <origin rpy="0 0 0" xyz="0.0213495 -0.0130363 0"/>
    <parent link="right_gripper_link_1"/>
    <child link="right_gripper_link_2"/>
    <axis xyz="0 0 1.0"/>
    <limit effort="1" velocity="1"/>
  </joint>
  <!-- <joint name="right_gripper_joint_3_dummy" type="fixed">
          <origin xyz="0.013553 0.0025081 0.0002778" rpy="0 0 0"/>
          <parent link="right_gripper_link_2"/>
          <child link="right_gripper_link_3_dummy"/>
        </joint> -->
  <joint name="right_gripper_joint_4" type="fixed">
    <origin rpy="0 0 0" xyz="0.0047151 -0.0208481 -5.8e-06"/>
    <parent link="right_gripper_link_2"/>
    <child link="right_gripper_link_4"/>
    <axis xyz="0 0 1.0"/>
    <limit effort="1" velocity="1"/>
  </joint>
  <joint name="right_gripper_joint_5" type="fixed">
    <origin rpy="0 0 0" xyz="0.0385916 -0.0103143 1.6e-06"/>
    <parent link="right_gripper_link_4"/>
    <child link="right_gripper_link_5"/>
    <axis xyz="0 0 1.0"/>
    <limit effort="1" velocity="1"/>
  </joint>
  <joint name="right_gripper_joint_6" type="fixed">
    <origin rpy="0 0 0" xyz="0.0059278 0.0133069 0"/>
    <parent link="right_gripper_link_5"/>
    <child link="right_gripper_link_6"/>
    <axis xyz="0 0 1.0"/>
    <limit effort="1" velocity="1"/>
  </joint>
  <joint name="right_gripper_joint_7" type="fixed">
    <origin rpy="0 0 0" xyz="-0.0156955 0.0176295 0"/>
    <parent link="right_gripper_link_6"/>
    <child link="right_gripper_link_7"/>
    <axis xyz="0 0 1.0"/>
    <limit effort="1" velocity="1"/>
  </joint>
  <joint name="gripper_joint_t" type="fixed">
    <origin rpy="0 0 0" xyz="0.124 0 -0.039"/>
    <parent link="gripper_link"/>
    <child link="gripper_t_link"/>
  </joint>




   <!-- <link name="front_left_wheel_link">
    <inertial>
      <origin rpy="0 0 0" xyz="-0.0002104 5.31e-05 -0.0004148"/>
      <mass value="0.162"/>
      <inertia ixx="0.0002" ixy="0" ixz="0" iyy="0.00012" iyz="0" izz="0.00012"/>
    </inertial>
    <visual name="front_left_wheel_bolt">
      <origin rpy="0 0 0" xyz="0 0.0145 0"/>
      <geometry>
        <cylinder length="0.001" radius="0.007"/>
      </geometry>
      <material name="bolt">
        <color rgba="0.45 0.15 0.0 1.0"/>
      </material>
    </visual>
    <visual name="front_left_wheel">
      <origin rpy="0 0 1.5707963267948966" xyz="0 0 0"/>
      <geometry>
        <mesh filename="../meshes/mecanum_wheel.dae" scale="0.6 0.6 0.6"/>
      </geometry>
      <material name="wheel_plastic"/>
    </visual>
    <collision name="front_left_wheel">
      <origin rpy="0 0 1.5707963267948966" xyz="0 0 0"/>
      <geometry>
        <mesh filename="../meshes/mecanum_wheel.stl" scale="0.6 0.6 0.6"/>
      </geometry>
      <material name="collision">
        <color rgba="0.8 0.0 0.0 1.0"/>
      </material>
    </collision>
  </link>  

  

  <link name="front_right_wheel_link">
    <inertial>
      <origin rpy="0 0 0" xyz="-0.0002104 5.31e-05 -0.0004148"/>
      <mass value="0.162"/>
      <inertia ixx="0.0002" ixy="0" ixz="0" iyy="0.00012" iyz="0" izz="0.00012"/>
    </inertial>
    <visual name="front_right_wheel_bolt">
      <origin rpy="1.5707963267948966 0 0" xyz="0 -0.0145 0"/>
      <geometry>
        <cylinder length="0.001" radius="0.007"/>
      </geometry>
      <material name="bolt">
        <color rgba="0.45 0.15 0.0 1.0"/>
      </material>
    </visual>
    <visual name="front_right_wheel">
      <origin rpy="0 0 1.5707963267948966" xyz="0 0 0"/>
      <geometry>
        <mesh filename="../meshes/mecanum_wheel.dae" scale="0.6 0.6 0.6"/>
      </geometry>
      <material name="wheel_plastic"/>
    </visual>
    <collision name="front_right_wheel">
      <origin rpy="0 0 1.5707963267948966" xyz="0 0 0"/>
      <geometry>
        <mesh filename="../meshes/mecanum_wheel.stl" scale="0.6 0.6 0.6"/>
      </geometry>
      <material name="collision">
        <color rgba="0.8 0.0 0.0 1.0"/>
      </material>
    </collision>
  </link>


  <link name="rear_left_wheel_link">
    <inertial>
      <origin rpy="0 0 0" xyz="-0.0002104 5.31e-05 -0.0004148"/>
      <mass value="0.162"/>
      <inertia ixx="0.0002" ixy="0" ixz="0" iyy="0.00012" iyz="0" izz="0.00012"/>
    </inertial>
    <visual name="rear_left_wheel_bolt">
      <origin rpy="1.5707963267948966 0 0" xyz="0 0.0145 0"/>
      <geometry>
        <cylinder length="0.001" radius="0.007"/>
      </geometry>
      <material name="bolt">
        <color rgba="0.45 0.15 0.0 1.0"/>
      </material>
    </visual>
    <visual name="rear_left_wheel">
      <origin rpy="0 0 1.5707963267948966" xyz="0 0 0"/>
      <geometry>
        <mesh filename="../meshes/mecanum_wheel.dae" scale="0.6 0.6 0.6"/>
      </geometry>
      <material name="wheel_plastic"/>
    </visual>
    <collision name="rear_left_wheel">
      <origin rpy="0 0 1.5707963267948966" xyz="0 0 0"/>
      <geometry>
        <mesh filename="../meshes/mecanum_wheel.stl" scale="0.6 0.6 0.6"/>
      </geometry>
      <material name="collision">
        <color rgba="0.8 0.0 0.0 1.0"/>
      </material>
    </collision>
  </link>
  

  <link name="rear_right_wheel_link">
    <inertial>
      <origin rpy="0 0 0" xyz="-0.0002104 5.31e-05 -0.0004148"/>
      <mass value="0.162"/>
      <inertia ixx="0.0002" ixy="0" ixz="0" iyy="0.00012" iyz="0" izz="0.00012"/>
    </inertial>
    <visual name="rear_right_wheel_bolt">
      <origin rpy="1.5707963267948966 0 0" xyz="0 -0.0145 0"/>
      <geometry>
        <cylinder length="0.001" radius="0.007"/>
      </geometry>
      <material name="bolt">
        <color rgba="0.45 0.15 0.0 1.0"/>
      </material>
    </visual>
    <visual name="rear_right_wheel">
      <origin rpy="0 0 1.5707963267948966" xyz="0 0 0"/>
      <geometry>
        <mesh filename="../meshes/mecanum_wheel.dae" scale="0.6 0.6 0.6"/>
      </geometry>
      <material name="wheel_plastic"/>
    </visual>
    <collision name="rear_right_wheel">
      <origin rpy="0 0 1.5707963267948966" xyz="0 0 0"/>
      <geometry>
        <mesh filename="../meshes/mecanum_wheel.stl" scale="0.6 0.6 0.6"/>
      </geometry>
      <material name="collision">
        <color rgba="0.8 0.0 0.0 1.0"/>
      </material>
    </collision>
  </link>-->



  <joint name="front_left_wheel_joint" type="continuous">
    <origin rpy="0 0 1.5707963267948966" xyz="0.1 0.1 0.01535"/>
    <parent link="chassis_base_link"/>
    <child link="front_left_wheel_link"/>
    <axis xyz="1 0 0"/>
  </joint>
  <joint name="front_right_wheel_joint" type="continuous">
    <origin rpy="0 0 1.5707963267948966" xyz="0.1 -0.1 0.01535"/>
    <parent link="chassis_base_link"/>
    <child link="front_right_wheel_link"/>
    <axis xyz="1 0 0"/>
  </joint>
  <joint name="rear_left_wheel_joint" type="continuous">
    <origin rpy="0 0 1.5707963267948966" xyz="-0.1 0.1 0.01535"/>
    <parent link="chassis_base_link"/>
    <child link="rear_left_wheel_link"/>
    <axis xyz="1 0 0"/>
  </joint>
  <joint name="rear_right_wheel_joint" type="continuous">
    <origin rpy="0 0 1.5707963267948966" xyz="-0.1 -0.1 0.01535"/>
    <parent link="chassis_base_link"/>
    <child link="rear_right_wheel_link"/>
    <axis xyz="1 0 0"/>
  </joint>




  


<link name="front_left_wheel_link">
    <visual>
      <origin rpy="0 0 0" xyz="0 0 0"/>
      <geometry>
        <mesh filename="../meshes/mecanum_wheel.dae" scale="0.6 0.6 0.6"/>
      </geometry>
    </visual>
    <collision>
      <origin rpy="0 0 0" xyz="0 0 0"/>
      <geometry>
        <mesh filename="../meshes/mecanum_wheel.stl" scale="0.6 0.6 0.6"/>
      </geometry>
    </collision>
    <inertial>
      <origin xyz="0 0 0" />
      <mass value="2.0"/>
      <inertia ixx="0.042025" ixy="0.0" ixz="0.0" iyy="0.024279" iyz="0.0" izz="0.024279"/>
    </inertial>
  </link>
  <link name="front_left_roller15_link">
    <visual>
      <origin rpy="0 0 0" xyz="0 0 0"/>
      <geometry>
        <mesh filename="../meshes/mecanum_roller.dae" scale="0.6 0.6 0.6"/>
      </geometry>
    </visual>
    <collision>
      <geometry>
        <mesh filename="../meshes/mecanum_roller.stl" scale="0.6 0.6 0.6"/>
      </geometry>
    </collision>
    <inertial>
      <origin xyz="0 0 0"/>
      <mass value="0.3"/>
      <inertia ixx="0.00024000" ixy="0.0" ixz="0.0" iyy="0.00076000" iyz="0.0" izz="0.00076000"/>
    </inertial>
  </link>
  <joint name="front_left_roller15_joint" type="continuous">
    <origin rpy="0.5619350361043127 -0.7022987807291682 0.38630030387691144" xyz="0 0.04905739107540767 -0.021841757733170465"/>
    <axis xyz="1 0 0"/>
    <parent link="front_left_wheel_link"/>
    <child link="front_left_roller15_link"/>
    <dynamics damping="0.001" friction="0.0001"/>
  </joint>
  <link name="front_left_roller14_link">
    <visual>
      <origin rpy="0 0 0" xyz="0 0 0"/>
      <geometry>
        <mesh filename="../meshes/mecanum_roller.dae" scale="0.6 0.6 0.6"/>
      </geometry>
    </visual>
    <collision>
      <geometry>
        <mesh filename="../meshes/mecanum_roller.stl" scale="0.6 0.6 0.6"/>
      </geometry>
    </collision>
    <inertial>
      <origin xyz="0 0 0"/>
      <mass value="0.3"/>
      <inertia ixx="0.00024000" ixy="0.0" ixz="0.0" iyy="0.00076000" iyz="0.0" izz="0.00076000"/>
    </inertial>
  </link>
  <joint name="front_left_roller14_joint" type="continuous">
    <origin rpy="1.0038406803226874 -0.4928592704898482 0.6390993414905143" xyz="0 0.03593231356147066 -0.039906877128136085"/>
    <axis xyz="1 0 0"/>
    <parent link="front_left_wheel_link"/>
    <child link="front_left_roller14_link"/>
    <dynamics damping="0.001" friction="0.0001"/>
  </joint>
  <link name="front_left_roller13_link">
    <visual>
      <origin rpy="0 0 0" xyz="0 0 0"/>
      <geometry>
        <mesh filename="../meshes/mecanum_roller.dae" scale="0.6 0.6 0.6"/>
      </geometry>
    </visual>
    <collision>
      <geometry>
        <mesh filename="../meshes/mecanum_roller.stl" scale="0.6 0.6 0.6"/>
      </geometry>
    </collision>
    <inertial>
      <origin xyz="0 0 0"/>
      <mass value="0.3"/>
      <inertia ixx="0.00024000" ixy="0.0" ixz="0.0" iyy="0.00076000" iyz="0.0" izz="0.00076000"/>
    </inertial>
  </link>
  <joint name="front_left_roller13_joint" type="continuous">
    <origin rpy="1.3449626171032882 -0.22028527385474703 0.7603177925108144" xyz="0 0.01659421259793466 -0.051071734925049746"/>
    <axis xyz="1 0 0"/>
    <parent link="front_left_wheel_link"/>
    <child link="front_left_roller13_link"/>
    <dynamics damping="0.001" friction="0.0001"/>
  </joint>
  <link name="front_left_roller12_link">
    <visual>
      <origin rpy="0 0 0" xyz="0 0 0"/>
      <geometry>
        <mesh filename="../meshes/mecanum_roller.dae" scale="0.6 0.6 0.6"/>
      </geometry>
    </visual>
    <collision>
      <geometry>
        <mesh filename="../meshes/mecanum_roller.stl" scale="0.6 0.6 0.6"/>
      </geometry>
    </collision>
    <inertial>
      <origin xyz="0 0 0"/>
      <mass value="0.3"/>
      <inertia ixx="0.00024000" ixy="0.0" ixz="0.0" iyy="0.00076000" iyz="0.0" izz="0.00076000"/>
    </inertial>
  </link>
  <joint name="front_left_roller12_joint" type="continuous">
    <origin rpy="-1.4966127917301506 0.07398025001120935 0.7826515949744619" xyz="0 -0.0056131784774729855 -0.05340582578127628"/>
    <axis xyz="1 0 0"/>
    <parent link="front_left_wheel_link"/>
    <child link="front_left_roller12_link"/>
    <dynamics damping="0.001" friction="0.0001"/>
  </joint>
  <link name="front_left_roller11_link">
    <visual>
      <origin rpy="0 0 0" xyz="0 0 0"/>
      <geometry>
        <mesh filename="../meshes/mecanum_roller.dae" scale="0.6 0.6 0.6"/>
      </geometry>
    </visual>
    <collision>
      <geometry>
        <mesh filename="../meshes/mecanum_roller.stl" scale="0.6 0.6 0.6"/>
      </geometry>
    </collision>
    <inertial>
      <origin xyz="0 0 0"/>
      <mass value="0.3"/>
      <inertia ixx="0.00024000" ixy="0.0" ixz="0.0" iyy="0.00076000" iyz="0.0" izz="0.00076000"/>
    </inertial>
  </link>
  <joint name="front_left_roller11_joint" type="continuous">
    <origin rpy="-1.1831996401397156 0.3613671239067081 0.7137243789447655" xyz="0 -0.026850000000000023 -0.04650556418322434"/>
    <axis xyz="1 0 0"/>
    <parent link="front_left_wheel_link"/>
    <child link="front_left_roller11_link"/>
    <dynamics damping="0.001" friction="0.0001"/>
  </joint>
  <link name="front_left_roller10_link">
    <visual>
      <origin rpy="0 0 0" xyz="0 0 0"/>
      <geometry>
        <mesh filename="../meshes/mecanum_roller.dae" scale="0.6 0.6 0.6"/>
      </geometry>
    </visual>
    <collision>
      <geometry>
        <mesh filename="../meshes/mecanum_roller.stl" scale="0.6 0.6 0.6"/>
      </geometry>
    </collision>
    <inertial>
      <origin xyz="0 0 0"/>
      <mass value="0.3"/>
      <inertia ixx="0.00024000" ixy="0.0" ixz="0.0" iyy="0.00076000" iyz="0.0" izz="0.00076000"/>
    </inertial>
  </link>
  <joint name="front_left_roller10_joint" type="continuous">
    <origin rpy="-0.7989541677433551 0.6090169187607924 0.5313896516603533" xyz="0 -0.04344421259793468 -0.0315640680481058"/>
    <axis xyz="1 0 0"/>
    <parent link="front_left_wheel_link"/>
    <child link="front_left_roller10_link"/>
    <dynamics damping="0.001" friction="0.0001"/>
  </joint>
  <link name="front_left_roller9_link">
    <visual>
      <origin rpy="0 0 0" xyz="0 0 0"/>
      <geometry>
        <mesh filename="../meshes/mecanum_roller.dae" scale="0.6 0.6 0.6"/>
      </geometry>
    </visual>
    <collision>
      <geometry>
        <mesh filename="../meshes/mecanum_roller.stl" scale="0.6 0.6 0.6"/>
      </geometry>
    </collision>
    <inertial>
      <origin xyz="0 0 0"/>
      <mass value="0.3"/>
      <inertia ixx="0.00024000" ixy="0.0" ixz="0.0" iyy="0.00076000" iyz="0.0" izz="0.00076000"/>
    </inertial>
  </link>
  <joint name="front_left_roller9_joint" type="continuous">
    <origin rpy="-0.29200750368454736 0.7637777909460687 0.20499125187874406" xyz="0 -0.052526526159405354 -0.011164857796913686"/>
    <axis xyz="1 0 0"/>
    <parent link="front_left_wheel_link"/>
    <child link="front_left_roller9_link"/>
    <dynamics damping="0.001" friction="0.0001"/>
  </joint>
  <link name="front_left_roller8_link">
    <visual>
      <origin rpy="0 0 0" xyz="0 0 0"/>
      <geometry>
        <mesh filename="../meshes/mecanum_roller.dae" scale="0.6 0.6 0.6"/>
      </geometry>
    </visual>
    <collision>
      <geometry>
        <mesh filename="../meshes/mecanum_roller.stl" scale="0.6 0.6 0.6"/>
      </geometry>
    </collision>
    <inertial>
      <origin xyz="0 0 0"/>
      <mass value="0.3"/>
      <inertia ixx="0.00024000" ixy="0.0" ixz="0.0" iyy="0.00076000" iyz="0.0" izz="0.00076000"/>
    </inertial>
  </link>
  <joint name="front_left_roller8_joint" type="continuous">
    <origin rpy="0.2920075036845471 0.7637777909460687 -0.20499125187874387" xyz="0 -0.05252652615940536 0.011164857796913676"/>
    <axis xyz="1 0 0"/>
    <parent link="front_left_wheel_link"/>
    <child link="front_left_roller8_link"/>
    <dynamics damping="0.001" friction="0.0001"/>
  </joint>
  <link name="front_left_roller7_link">
    <visual>
      <origin rpy="0 0 0" xyz="0 0 0"/>
      <geometry>
        <mesh filename="../meshes/mecanum_roller.dae" scale="0.6 0.6 0.6"/>
      </geometry>
    </visual>
    <collision>
      <geometry>
        <mesh filename="../meshes/mecanum_roller.stl" scale="0.6 0.6 0.6"/>
      </geometry>
    </collision>
    <inertial>
      <origin xyz="0 0 0"/>
      <mass value="0.3"/>
      <inertia ixx="0.00024000" ixy="0.0" ixz="0.0" iyy="0.00076000" iyz="0.0" izz="0.00076000"/>
    </inertial>
  </link>
  <joint name="front_left_roller7_joint" type="continuous">
    <origin rpy="0.7989541677433554 0.6090169187607923 -0.5313896516603536" xyz="0 -0.04344421259793467 0.03156406804810581"/>
    <axis xyz="1 0 0"/>
    <parent link="front_left_wheel_link"/>
    <child link="front_left_roller7_link"/>
    <dynamics damping="0.001" friction="0.0001"/>
  </joint>
  <link name="front_left_roller6_link">
    <visual>
      <origin rpy="0 0 0" xyz="0 0 0"/>
      <geometry>
        <mesh filename="../meshes/mecanum_roller.dae" scale="0.6 0.6 0.6"/>
      </geometry>
    </visual>
    <collision>
      <geometry>
        <mesh filename="../meshes/mecanum_roller.stl" scale="0.6 0.6 0.6"/>
      </geometry>
    </collision>
    <inertial>
      <origin xyz="0 0 0"/>
      <mass value="0.3"/>
      <inertia ixx="0.00024000" ixy="0.0" ixz="0.0" iyy="0.00076000" iyz="0.0" izz="0.00076000"/>
    </inertial>
  </link>
  <joint name="front_left_roller6_joint" type="continuous">
    <origin rpy="1.1831996401397162 0.3613671239067076 -0.7137243789447657" xyz="0 -0.026849999999999985 0.04650556418322435"/>
    <axis xyz="1 0 0"/>
    <parent link="front_left_wheel_link"/>
    <child link="front_left_roller6_link"/>
    <dynamics damping="0.001" friction="0.0001"/>
  </joint>
  <link name="front_left_roller5_link">
    <visual>
      <origin rpy="0 0 0" xyz="0 0 0"/>
      <geometry>
        <mesh filename="../meshes/mecanum_roller.dae" scale="0.6 0.6 0.6"/>
      </geometry>
    </visual>
    <collision>
      <geometry>
        <mesh filename="../meshes/mecanum_roller.stl" scale="0.6 0.6 0.6"/>
      </geometry>
    </collision>
    <inertial>
      <origin xyz="0 0 0"/>
      <mass value="0.3"/>
      <inertia ixx="0.00024000" ixy="0.0" ixz="0.0" iyy="0.00076000" iyz="0.0" izz="0.00076000"/>
    </inertial>
  </link>
  <joint name="front_left_roller5_joint" type="continuous">
    <origin rpy="1.4966127917301504 0.07398025001120949 -0.7826515949744619" xyz="0 -0.005613178477472996 0.05340582578127627"/>
    <axis xyz="1 0 0"/>
    <parent link="front_left_wheel_link"/>
    <child link="front_left_roller5_link"/>
    <dynamics damping="0.001" friction="0.0001"/>
  </joint>
  <link name="front_left_roller4_link">
    <visual>
      <origin rpy="0 0 0" xyz="0 0 0"/>
      <geometry>
        <mesh filename="../meshes/mecanum_roller.dae" scale="0.6 0.6 0.6"/>
      </geometry>
    </visual>
    <collision>
      <geometry>
        <mesh filename="../meshes/mecanum_roller.stl" scale="0.6 0.6 0.6"/>
      </geometry>
    </collision>
    <inertial>
      <origin xyz="0 0 0"/>
      <mass value="0.3"/>
      <inertia ixx="0.00024000" ixy="0.0" ixz="0.0" iyy="0.00076000" iyz="0.0" izz="0.00076000"/>
    </inertial>
  </link>
  <joint name="front_left_roller4_joint" type="continuous">
    <origin rpy="-1.3449626171032882 -0.2202852738547472 -0.7603177925108144" xyz="0 0.016594212597934678 0.051071734925049746"/>
    <axis xyz="1 0 0"/>
    <parent link="front_left_wheel_link"/>
    <child link="front_left_roller4_link"/>
    <dynamics damping="0.001" friction="0.0001"/>
  </joint>
  <link name="front_left_roller3_link">
    <visual>
      <origin rpy="0 0 0" xyz="0 0 0"/>
      <geometry>
        <mesh filename="../meshes/mecanum_roller.dae" scale="0.6 0.6 0.6"/>
      </geometry>
    </visual>
    <collision>
      <geometry>
        <mesh filename="../meshes/mecanum_roller.stl" scale="0.6 0.6 0.6"/>
      </geometry>
    </collision>
    <inertial>
      <origin xyz="0 0 0"/>
      <mass value="0.3"/>
      <inertia ixx="0.00024000" ixy="0.0" ixz="0.0" iyy="0.00076000" iyz="0.0" izz="0.00076000"/>
    </inertial>
  </link>
  <joint name="front_left_roller3_joint" type="continuous">
    <origin rpy="-1.0038406803226867 -0.4928592704898485 -0.6390993414905141" xyz="0 0.03593231356147068 0.03990687712813607"/>
    <axis xyz="1 0 0"/>
    <parent link="front_left_wheel_link"/>
    <child link="front_left_roller3_link"/>
    <dynamics damping="0.001" friction="0.0001"/>
  </joint>
  <link name="front_left_roller2_link">
    <visual>
      <origin rpy="0 0 0" xyz="0 0 0"/>
      <geometry>
        <mesh filename="../meshes/mecanum_roller.dae" scale="0.6 0.6 0.6"/>
      </geometry>
    </visual>
    <collision>
      <geometry>
        <mesh filename="../meshes/mecanum_roller.stl" scale="0.6 0.6 0.6"/>
      </geometry>
    </collision>
    <inertial>
      <origin xyz="0 0 0"/>
      <mass value="0.3"/>
      <inertia ixx="0.00024000" ixy="0.0" ixz="0.0" iyy="0.00076000" iyz="0.0" izz="0.00076000"/>
    </inertial>
  </link>
  <joint name="front_left_roller2_joint" type="continuous">
    <origin rpy="-0.5619350361043128 -0.702298780729168 -0.3863003038769115" xyz="0 0.049057391075407665 0.02184175773317047"/>
    <axis xyz="1 0 0"/>
    <parent link="front_left_wheel_link"/>
    <child link="front_left_roller2_link"/>
    <dynamics damping="0.001" friction="0.0001"/>
  </joint>
  <link name="front_left_roller1_link">
    <visual>
      <origin rpy="0 0 0" xyz="0 0 0"/>
      <geometry>
        <mesh filename="../meshes/mecanum_roller.dae" scale="0.6 0.6 0.6"/>
      </geometry>
    </visual>
    <collision>
      <geometry>
        <mesh filename="../meshes/mecanum_roller.stl" scale="0.6 0.6 0.6"/>
      </geometry>
    </collision>
    <inertial>
      <origin xyz="0 0 0"/>
      <mass value="0.3"/>
      <inertia ixx="0.00024000" ixy="0.0" ixz="0.0" iyy="0.00076000" iyz="0.0" izz="0.00076000"/>
    </inertial>
  </link>
  <joint name="front_left_roller1_joint" type="continuous">
    <origin rpy="-0.0 -0.7853981633974482 -0.0" xyz="0 0.0537 0.0"/>
    <axis xyz="1 0 0"/>
    <parent link="front_left_wheel_link"/>
    <child link="front_left_roller1_link"/>
    <dynamics damping="0.001" friction="0.0001"/>
  </joint>
  

<link name="front_right_wheel_link">
    <visual>
      <origin rpy="0 0 0" xyz="0 0 0"/>
      <geometry>
        <mesh filename="../meshes/mecanum_wheel.dae" scale="0.6 0.6 0.6"/>
      </geometry>
    </visual>
    <collision>
      <origin rpy="0 0 0" xyz="0 0 0"/>
      <geometry>
        <mesh filename="../meshes/mecanum_wheel.stl" scale="0.6 0.6 0.6"/>
      </geometry>
    </collision>
    <inertial>
      <origin xyz="0 0 0" />
      <mass value="2.0"/>
      <inertia ixx="0.042025" ixy="0.0" ixz="0.0" iyy="0.024279" iyz="0.0" izz="0.024279"/>
    </inertial>
  </link>
  <link name="front_right_roller15_link">
    <visual>
      <origin rpy="0 0 0" xyz="0 0 0"/>
      <geometry>
        <mesh filename="../meshes/mecanum_roller.dae" scale="0.6 0.6 0.6"/>
      </geometry>
    </visual>
    <collision>
      <geometry>
        <mesh filename="../meshes/mecanum_roller.stl" scale="0.6 0.6 0.6"/>
      </geometry>
    </collision>
    <inertial>
      <origin xyz="0 0 0"/>
      <mass value="0.3"/>
      <inertia ixx="0.00024000" ixy="0.0" ixz="0.0" iyy="0.00076000" iyz="0.0" izz="0.00076000"/>
    </inertial>
  </link>
  <joint name="front_right_roller15_joint" type="continuous">
    <origin rpy="0.5619350361043127 0.7022987807291682 -0.38630030387691144" xyz="0 0.04905739107540767 -0.021841757733170465"/>
    <axis xyz="1 0 0"/>
    <parent link="front_right_wheel_link"/>
    <child link="front_right_roller15_link"/>
    <dynamics damping="0.001" friction="0.0001"/>
  </joint>
  <link name="front_right_roller14_link">
    <visual>
      <origin rpy="0 0 0" xyz="0 0 0"/>
      <geometry>
        <mesh filename="../meshes/mecanum_roller.dae" scale="0.6 0.6 0.6"/>
      </geometry>
    </visual>
    <collision>
      <geometry>
        <mesh filename="../meshes/mecanum_roller.stl" scale="0.6 0.6 0.6"/>
      </geometry>
    </collision>
    <inertial>
      <origin xyz="0 0 0"/>
      <mass value="0.3"/>
      <inertia ixx="0.00024000" ixy="0.0" ixz="0.0" iyy="0.00076000" iyz="0.0" izz="0.00076000"/>
    </inertial>
  </link>
  <joint name="front_right_roller14_joint" type="continuous">
    <origin rpy="1.0038406803226874 0.4928592704898482 -0.6390993414905143" xyz="0 0.03593231356147066 -0.039906877128136085"/>
    <axis xyz="1 0 0"/>
    <parent link="front_right_wheel_link"/>
    <child link="front_right_roller14_link"/>
    <dynamics damping="0.001" friction="0.0001"/>
  </joint>
  <link name="front_right_roller13_link">
    <visual>
      <origin rpy="0 0 0" xyz="0 0 0"/>
      <geometry>
        <mesh filename="../meshes/mecanum_roller.dae" scale="0.6 0.6 0.6"/>
      </geometry>
    </visual>
    <collision>
      <geometry>
        <mesh filename="../meshes/mecanum_roller.stl" scale="0.6 0.6 0.6"/>
      </geometry>
    </collision>
    <inertial>
      <origin xyz="0 0 0"/>
      <mass value="0.3"/>
      <inertia ixx="0.00024000" ixy="0.0" ixz="0.0" iyy="0.00076000" iyz="0.0" izz="0.00076000"/>
    </inertial>
  </link>
  <joint name="front_right_roller13_joint" type="continuous">
    <origin rpy="1.3449626171032882 0.22028527385474703 -0.7603177925108144" xyz="0 0.01659421259793466 -0.051071734925049746"/>
    <axis xyz="1 0 0"/>
    <parent link="front_right_wheel_link"/>
    <child link="front_right_roller13_link"/>
    <dynamics damping="0.001" friction="0.0001"/>
  </joint>
  <link name="front_right_roller12_link">
    <visual>
      <origin rpy="0 0 0" xyz="0 0 0"/>
      <geometry>
        <mesh filename="../meshes/mecanum_roller.dae" scale="0.6 0.6 0.6"/>
      </geometry>
    </visual>
    <collision>
      <geometry>
        <mesh filename="../meshes/mecanum_roller.stl" scale="0.6 0.6 0.6"/>
      </geometry>
    </collision>
    <inertial>
      <origin xyz="0 0 0"/>
      <mass value="0.3"/>
      <inertia ixx="0.00024000" ixy="0.0" ixz="0.0" iyy="0.00076000" iyz="0.0" izz="0.00076000"/>
    </inertial>
  </link>
  <joint name="front_right_roller12_joint" type="continuous">
    <origin rpy="-1.4966127917301506 -0.07398025001120935 -0.7826515949744619" xyz="0 -0.0056131784774729855 -0.05340582578127628"/>
    <axis xyz="1 0 0"/>
    <parent link="front_right_wheel_link"/>
    <child link="front_right_roller12_link"/>
    <dynamics damping="0.001" friction="0.0001"/>
  </joint>
  <link name="front_right_roller11_link">
    <visual>
      <origin rpy="0 0 0" xyz="0 0 0"/>
      <geometry>
        <mesh filename="../meshes/mecanum_roller.dae" scale="0.6 0.6 0.6"/>
      </geometry>
    </visual>
    <collision>
      <geometry>
        <mesh filename="../meshes/mecanum_roller.stl" scale="0.6 0.6 0.6"/>
      </geometry>
    </collision>
    <inertial>
      <origin xyz="0 0 0"/>
      <mass value="0.3"/>
      <inertia ixx="0.00024000" ixy="0.0" ixz="0.0" iyy="0.00076000" iyz="0.0" izz="0.00076000"/>
    </inertial>
  </link>
  <joint name="front_right_roller11_joint" type="continuous">
    <origin rpy="-1.1831996401397156 -0.3613671239067081 -0.7137243789447655" xyz="0 -0.026850000000000023 -0.04650556418322434"/>
    <axis xyz="1 0 0"/>
    <parent link="front_right_wheel_link"/>
    <child link="front_right_roller11_link"/>
    <dynamics damping="0.001" friction="0.0001"/>
  </joint>
  <link name="front_right_roller10_link">
    <visual>
      <origin rpy="0 0 0" xyz="0 0 0"/>
      <geometry>
        <mesh filename="../meshes/mecanum_roller.dae" scale="0.6 0.6 0.6"/>
      </geometry>
    </visual>
    <collision>
      <geometry>
        <mesh filename="../meshes/mecanum_roller.stl" scale="0.6 0.6 0.6"/>
      </geometry>
    </collision>
    <inertial>
      <origin xyz="0 0 0"/>
      <mass value="0.3"/>
      <inertia ixx="0.00024000" ixy="0.0" ixz="0.0" iyy="0.00076000" iyz="0.0" izz="0.00076000"/>
    </inertial>
  </link>
  <joint name="front_right_roller10_joint" type="continuous">
    <origin rpy="-0.7989541677433551 -0.6090169187607924 -0.5313896516603533" xyz="0 -0.04344421259793468 -0.0315640680481058"/>
    <axis xyz="1 0 0"/>
    <parent link="front_right_wheel_link"/>
    <child link="front_right_roller10_link"/>
    <dynamics damping="0.001" friction="0.0001"/>
  </joint>
  <link name="front_right_roller9_link">
    <visual>
      <origin rpy="0 0 0" xyz="0 0 0"/>
      <geometry>
        <mesh filename="../meshes/mecanum_roller.dae" scale="0.6 0.6 0.6"/>
      </geometry>
    </visual>
    <collision>
      <geometry>
        <mesh filename="../meshes/mecanum_roller.stl" scale="0.6 0.6 0.6"/>
      </geometry>
    </collision>
    <inertial>
      <origin xyz="0 0 0"/>
      <mass value="0.3"/>
      <inertia ixx="0.00024000" ixy="0.0" ixz="0.0" iyy="0.00076000" iyz="0.0" izz="0.00076000"/>
    </inertial>
  </link>
  <joint name="front_right_roller9_joint" type="continuous">
    <origin rpy="-0.29200750368454736 -0.7637777909460687 -0.20499125187874406" xyz="0 -0.052526526159405354 -0.011164857796913686"/>
    <axis xyz="1 0 0"/>
    <parent link="front_right_wheel_link"/>
    <child link="front_right_roller9_link"/>
    <dynamics damping="0.001" friction="0.0001"/>
  </joint>
  <link name="front_right_roller8_link">
    <visual>
      <origin rpy="0 0 0" xyz="0 0 0"/>
      <geometry>
        <mesh filename="../meshes/mecanum_roller.dae" scale="0.6 0.6 0.6"/>
      </geometry>
    </visual>
    <collision>
      <geometry>
        <mesh filename="../meshes/mecanum_roller.stl" scale="0.6 0.6 0.6"/>
      </geometry>
    </collision>
    <inertial>
      <origin xyz="0 0 0"/>
      <mass value="0.3"/>
      <inertia ixx="0.00024000" ixy="0.0" ixz="0.0" iyy="0.00076000" iyz="0.0" izz="0.00076000"/>
    </inertial>
  </link>
  <joint name="front_right_roller8_joint" type="continuous">
    <origin rpy="0.2920075036845471 -0.7637777909460687 0.20499125187874387" xyz="0 -0.05252652615940536 0.011164857796913676"/>
    <axis xyz="1 0 0"/>
    <parent link="front_right_wheel_link"/>
    <child link="front_right_roller8_link"/>
    <dynamics damping="0.001" friction="0.0001"/>
  </joint>
  <link name="front_right_roller7_link">
    <visual>
      <origin rpy="0 0 0" xyz="0 0 0"/>
      <geometry>
        <mesh filename="../meshes/mecanum_roller.dae" scale="0.6 0.6 0.6"/>
      </geometry>
    </visual>
    <collision>
      <geometry>
        <mesh filename="../meshes/mecanum_roller.stl" scale="0.6 0.6 0.6"/>
      </geometry>
    </collision>
    <inertial>
      <origin xyz="0 0 0"/>
      <mass value="0.3"/>
      <inertia ixx="0.00024000" ixy="0.0" ixz="0.0" iyy="0.00076000" iyz="0.0" izz="0.00076000"/>
    </inertial>
  </link>
  <joint name="front_right_roller7_joint" type="continuous">
    <origin rpy="0.7989541677433554 -0.6090169187607923 0.5313896516603536" xyz="0 -0.04344421259793467 0.03156406804810581"/>
    <axis xyz="1 0 0"/>
    <parent link="front_right_wheel_link"/>
    <child link="front_right_roller7_link"/>
    <dynamics damping="0.001" friction="0.0001"/>
  </joint>
  <link name="front_right_roller6_link">
    <visual>
      <origin rpy="0 0 0" xyz="0 0 0"/>
      <geometry>
        <mesh filename="../meshes/mecanum_roller.dae" scale="0.6 0.6 0.6"/>
      </geometry>
    </visual>
    <collision>
      <geometry>
        <mesh filename="../meshes/mecanum_roller.stl" scale="0.6 0.6 0.6"/>
      </geometry>
    </collision>
    <inertial>
      <origin xyz="0 0 0"/>
      <mass value="0.3"/>
      <inertia ixx="0.00024000" ixy="0.0" ixz="0.0" iyy="0.00076000" iyz="0.0" izz="0.00076000"/>
    </inertial>
  </link>
  <joint name="front_right_roller6_joint" type="continuous">
    <origin rpy="1.1831996401397162 -0.3613671239067076 0.7137243789447657" xyz="0 -0.026849999999999985 0.04650556418322435"/>
    <axis xyz="1 0 0"/>
    <parent link="front_right_wheel_link"/>
    <child link="front_right_roller6_link"/>
    <dynamics damping="0.001" friction="0.0001"/>
  </joint>
  <link name="front_right_roller5_link">
    <visual>
      <origin rpy="0 0 0" xyz="0 0 0"/>
      <geometry>
        <mesh filename="../meshes/mecanum_roller.dae" scale="0.6 0.6 0.6"/>
      </geometry>
    </visual>
    <collision>
      <geometry>
        <mesh filename="../meshes/mecanum_roller.stl" scale="0.6 0.6 0.6"/>
      </geometry>
    </collision>
    <inertial>
      <origin xyz="0 0 0"/>
      <mass value="0.3"/>
      <inertia ixx="0.00024000" ixy="0.0" ixz="0.0" iyy="0.00076000" iyz="0.0" izz="0.00076000"/>
    </inertial>
  </link>
  <joint name="front_right_roller5_joint" type="continuous">
    <origin rpy="1.4966127917301504 -0.07398025001120949 0.7826515949744619" xyz="0 -0.005613178477472996 0.05340582578127627"/>
    <axis xyz="1 0 0"/>
    <parent link="front_right_wheel_link"/>
    <child link="front_right_roller5_link"/>
    <dynamics damping="0.001" friction="0.0001"/>
  </joint>
  <link name="front_right_roller4_link">
    <visual>
      <origin rpy="0 0 0" xyz="0 0 0"/>
      <geometry>
        <mesh filename="../meshes/mecanum_roller.dae" scale="0.6 0.6 0.6"/>
      </geometry>
    </visual>
    <collision>
      <geometry>
        <mesh filename="../meshes/mecanum_roller.stl" scale="0.6 0.6 0.6"/>
      </geometry>
    </collision>
    <inertial>
      <origin xyz="0 0 0"/>
      <mass value="0.3"/>
      <inertia ixx="0.00024000" ixy="0.0" ixz="0.0" iyy="0.00076000" iyz="0.0" izz="0.00076000"/>
    </inertial>
  </link>
  <joint name="front_right_roller4_joint" type="continuous">
    <origin rpy="-1.3449626171032882 0.2202852738547472 0.7603177925108144" xyz="0 0.016594212597934678 0.051071734925049746"/>
    <axis xyz="1 0 0"/>
    <parent link="front_right_wheel_link"/>
    <child link="front_right_roller4_link"/>
    <dynamics damping="0.001" friction="0.0001"/>
  </joint>
  <link name="front_right_roller3_link">
    <visual>
      <origin rpy="0 0 0" xyz="0 0 0"/>
      <geometry>
        <mesh filename="../meshes/mecanum_roller.dae" scale="0.6 0.6 0.6"/>
      </geometry>
    </visual>
    <collision>
      <geometry>
        <mesh filename="../meshes/mecanum_roller.stl" scale="0.6 0.6 0.6"/>
      </geometry>
    </collision>
    <inertial>
      <origin xyz="0 0 0"/>
      <mass value="0.3"/>
      <inertia ixx="0.00024000" ixy="0.0" ixz="0.0" iyy="0.00076000" iyz="0.0" izz="0.00076000"/>
    </inertial>
  </link>
  <joint name="front_right_roller3_joint" type="continuous">
    <origin rpy="-1.0038406803226867 0.4928592704898485 0.6390993414905141" xyz="0 0.03593231356147068 0.03990687712813607"/>
    <axis xyz="1 0 0"/>
    <parent link="front_right_wheel_link"/>
    <child link="front_right_roller3_link"/>
    <dynamics damping="0.001" friction="0.0001"/>
  </joint>
  <link name="front_right_roller2_link">
    <visual>
      <origin rpy="0 0 0" xyz="0 0 0"/>
      <geometry>
        <mesh filename="../meshes/mecanum_roller.dae" scale="0.6 0.6 0.6"/>
      </geometry>
    </visual>
    <collision>
      <geometry>
        <mesh filename="../meshes/mecanum_roller.stl" scale="0.6 0.6 0.6"/>
      </geometry>
    </collision>
    <inertial>
      <origin xyz="0 0 0"/>
      <mass value="0.3"/>
      <inertia ixx="0.00024000" ixy="0.0" ixz="0.0" iyy="0.00076000" iyz="0.0" izz="0.00076000"/>
    </inertial>
  </link>
  <joint name="front_right_roller2_joint" type="continuous">
    <origin rpy="-0.5619350361043128 0.702298780729168 0.3863003038769115" xyz="0 0.049057391075407665 0.02184175773317047"/>
    <axis xyz="1 0 0"/>
    <parent link="front_right_wheel_link"/>
    <child link="front_right_roller2_link"/>
    <dynamics damping="0.001" friction="0.0001"/>
  </joint>
  <link name="front_right_roller1_link">
    <visual>
      <origin rpy="0 0 0" xyz="0 0 0"/>
      <geometry>
        <mesh filename="../meshes/mecanum_roller.dae" scale="0.6 0.6 0.6"/>
      </geometry>
    </visual>
    <collision>
      <geometry>
        <mesh filename="../meshes/mecanum_roller.stl" scale="0.6 0.6 0.6"/>
      </geometry>
    </collision>
    <inertial>
      <origin xyz="0 0 0"/>
      <mass value="0.3"/>
      <inertia ixx="0.00024000" ixy="0.0" ixz="0.0" iyy="0.00076000" iyz="0.0" izz="0.00076000"/>
    </inertial>
  </link>
  <joint name="front_right_roller1_joint" type="continuous">
    <origin rpy="-0.0 0.7853981633974482 0.0" xyz="0 0.0537 0.0"/>
    <axis xyz="1 0 0"/>
    <parent link="front_right_wheel_link"/>
    <child link="front_right_roller1_link"/>
    <dynamics damping="0.001" friction="0.0001"/>
  </joint>
  
<link name="rear_right_wheel_link">
    <visual>
      <origin rpy="0 0 0" xyz="0 0 0"/>
      <geometry>
        <mesh filename="../meshes/mecanum_wheel.dae" scale="0.6 0.6 0.6"/>
      </geometry>
    </visual>
    <collision>
      <origin rpy="0 0 0" xyz="0 0 0"/>
      <geometry>
        <mesh filename="../meshes/mecanum_wheel.stl" scale="0.6 0.6 0.6"/>
      </geometry>
    </collision>
    <inertial>
      <origin xyz="0 0 0" />
      <mass value="2.0"/>
      <inertia ixx="0.042025" ixy="0.0" ixz="0.0" iyy="0.024279" iyz="0.0" izz="0.024279"/>
    </inertial>
  </link>
  <link name="rear_right_roller15_link">
    <visual>
      <origin rpy="0 0 0" xyz="0 0 0"/>
      <geometry>
        <mesh filename="../meshes/mecanum_roller.dae" scale="0.6 0.6 0.6"/>
      </geometry>
    </visual>
    <collision>
      <geometry>
        <mesh filename="../meshes/mecanum_roller.stl" scale="0.6 0.6 0.6"/>
      </geometry>
    </collision>
    <inertial>
      <origin xyz="0 0 0"/>
      <mass value="0.3"/>
      <inertia ixx="0.00024000" ixy="0.0" ixz="0.0" iyy="0.00076000" iyz="0.0" izz="0.00076000"/>
    </inertial>
  </link>
  <joint name="rear_right_roller15_joint" type="continuous">
    <origin rpy="0.5619350361043127 -0.7022987807291682 0.38630030387691144" xyz="0 0.04905739107540767 -0.021841757733170465"/>
    <axis xyz="1 0 0"/>
    <parent link="rear_right_wheel_link"/>
    <child link="rear_right_roller15_link"/>
    <dynamics damping="0.001" friction="0.0001"/>
  </joint>
  <link name="rear_right_roller14_link">
    <visual>
      <origin rpy="0 0 0" xyz="0 0 0"/>
      <geometry>
        <mesh filename="../meshes/mecanum_roller.dae" scale="0.6 0.6 0.6"/>
      </geometry>
    </visual>
    <collision>
      <geometry>
        <mesh filename="../meshes/mecanum_roller.stl" scale="0.6 0.6 0.6"/>
      </geometry>
    </collision>
    <inertial>
      <origin xyz="0 0 0"/>
      <mass value="0.3"/>
      <inertia ixx="0.00024000" ixy="0.0" ixz="0.0" iyy="0.00076000" iyz="0.0" izz="0.00076000"/>
    </inertial>
  </link>
  <joint name="rear_right_roller14_joint" type="continuous">
    <origin rpy="1.0038406803226874 -0.4928592704898482 0.6390993414905143" xyz="0 0.03593231356147066 -0.039906877128136085"/>
    <axis xyz="1 0 0"/>
    <parent link="rear_right_wheel_link"/>
    <child link="rear_right_roller14_link"/>
    <dynamics damping="0.001" friction="0.0001"/>
  </joint>
  <link name="rear_right_roller13_link">
    <visual>
      <origin rpy="0 0 0" xyz="0 0 0"/>
      <geometry>
        <mesh filename="../meshes/mecanum_roller.dae" scale="0.6 0.6 0.6"/>
      </geometry>
    </visual>
    <collision>
      <geometry>
        <mesh filename="../meshes/mecanum_roller.stl" scale="0.6 0.6 0.6"/>
      </geometry>
    </collision>
    <inertial>
      <origin xyz="0 0 0"/>
      <mass value="0.3"/>
      <inertia ixx="0.00024000" ixy="0.0" ixz="0.0" iyy="0.00076000" iyz="0.0" izz="0.00076000"/>
    </inertial>
  </link>
  <joint name="rear_right_roller13_joint" type="continuous">
    <origin rpy="1.3449626171032882 -0.22028527385474703 0.7603177925108144" xyz="0 0.01659421259793466 -0.051071734925049746"/>
    <axis xyz="1 0 0"/>
    <parent link="rear_right_wheel_link"/>
    <child link="rear_right_roller13_link"/>
    <dynamics damping="0.001" friction="0.0001"/>
  </joint>
  <link name="rear_right_roller12_link">
    <visual>
      <origin rpy="0 0 0" xyz="0 0 0"/>
      <geometry>
        <mesh filename="../meshes/mecanum_roller.dae" scale="0.6 0.6 0.6"/>
      </geometry>
    </visual>
    <collision>
      <geometry>
        <mesh filename="../meshes/mecanum_roller.stl" scale="0.6 0.6 0.6"/>
      </geometry>
    </collision>
    <inertial>
      <origin xyz="0 0 0"/>
      <mass value="0.3"/>
      <inertia ixx="0.00024000" ixy="0.0" ixz="0.0" iyy="0.00076000" iyz="0.0" izz="0.00076000"/>
    </inertial>
  </link>
  <joint name="rear_right_roller12_joint" type="continuous">
    <origin rpy="-1.4966127917301506 0.07398025001120935 0.7826515949744619" xyz="0 -0.0056131784774729855 -0.05340582578127628"/>
    <axis xyz="1 0 0"/>
    <parent link="rear_right_wheel_link"/>
    <child link="rear_right_roller12_link"/>
    <dynamics damping="0.001" friction="0.0001"/>
  </joint>
  <link name="rear_right_roller11_link">
    <visual>
      <origin rpy="0 0 0" xyz="0 0 0"/>
      <geometry>
        <mesh filename="../meshes/mecanum_roller.dae" scale="0.6 0.6 0.6"/>
      </geometry>
    </visual>
    <collision>
      <geometry>
        <mesh filename="../meshes/mecanum_roller.stl" scale="0.6 0.6 0.6"/>
      </geometry>
    </collision>
    <inertial>
      <origin xyz="0 0 0"/>
      <mass value="0.3"/>
      <inertia ixx="0.00024000" ixy="0.0" ixz="0.0" iyy="0.00076000" iyz="0.0" izz="0.00076000"/>
    </inertial>
  </link>
  <joint name="rear_right_roller11_joint" type="continuous">
    <origin rpy="-1.1831996401397156 0.3613671239067081 0.7137243789447655" xyz="0 -0.026850000000000023 -0.04650556418322434"/>
    <axis xyz="1 0 0"/>
    <parent link="rear_right_wheel_link"/>
    <child link="rear_right_roller11_link"/>
    <dynamics damping="0.001" friction="0.0001"/>
  </joint>
  <link name="rear_right_roller10_link">
    <visual>
      <origin rpy="0 0 0" xyz="0 0 0"/>
      <geometry>
        <mesh filename="../meshes/mecanum_roller.dae" scale="0.6 0.6 0.6"/>
      </geometry>
    </visual>
    <collision>
      <geometry>
        <mesh filename="../meshes/mecanum_roller.stl" scale="0.6 0.6 0.6"/>
      </geometry>
    </collision>
    <inertial>
      <origin xyz="0 0 0"/>
      <mass value="0.3"/>
      <inertia ixx="0.00024000" ixy="0.0" ixz="0.0" iyy="0.00076000" iyz="0.0" izz="0.00076000"/>
    </inertial>
  </link>
  <joint name="rear_right_roller10_joint" type="continuous">
    <origin rpy="-0.7989541677433551 0.6090169187607924 0.5313896516603533" xyz="0 -0.04344421259793468 -0.0315640680481058"/>
    <axis xyz="1 0 0"/>
    <parent link="rear_right_wheel_link"/>
    <child link="rear_right_roller10_link"/>
    <dynamics damping="0.001" friction="0.0001"/>
  </joint>
  <link name="rear_right_roller9_link">
    <visual>
      <origin rpy="0 0 0" xyz="0 0 0"/>
      <geometry>
        <mesh filename="../meshes/mecanum_roller.dae" scale="0.6 0.6 0.6"/>
      </geometry>
    </visual>
    <collision>
      <geometry>
        <mesh filename="../meshes/mecanum_roller.stl" scale="0.6 0.6 0.6"/>
      </geometry>
    </collision>
    <inertial>
      <origin xyz="0 0 0"/>
      <mass value="0.3"/>
      <inertia ixx="0.00024000" ixy="0.0" ixz="0.0" iyy="0.00076000" iyz="0.0" izz="0.00076000"/>
    </inertial>
  </link>
  <joint name="rear_right_roller9_joint" type="continuous">
    <origin rpy="-0.29200750368454736 0.7637777909460687 0.20499125187874406" xyz="0 -0.052526526159405354 -0.011164857796913686"/>
    <axis xyz="1 0 0"/>
    <parent link="rear_right_wheel_link"/>
    <child link="rear_right_roller9_link"/>
    <dynamics damping="0.001" friction="0.0001"/>
  </joint>
  <link name="rear_right_roller8_link">
    <visual>
      <origin rpy="0 0 0" xyz="0 0 0"/>
      <geometry>
        <mesh filename="../meshes/mecanum_roller.dae" scale="0.6 0.6 0.6"/>
      </geometry>
    </visual>
    <collision>
      <geometry>
        <mesh filename="../meshes/mecanum_roller.stl" scale="0.6 0.6 0.6"/>
      </geometry>
    </collision>
    <inertial>
      <origin xyz="0 0 0"/>
      <mass value="0.3"/>
      <inertia ixx="0.00024000" ixy="0.0" ixz="0.0" iyy="0.00076000" iyz="0.0" izz="0.00076000"/>
    </inertial>
  </link>
  <joint name="rear_right_roller8_joint" type="continuous">
    <origin rpy="0.2920075036845471 0.7637777909460687 -0.20499125187874387" xyz="0 -0.05252652615940536 0.011164857796913676"/>
    <axis xyz="1 0 0"/>
    <parent link="rear_right_wheel_link"/>
    <child link="rear_right_roller8_link"/>
    <dynamics damping="0.001" friction="0.0001"/>
  </joint>
  <link name="rear_right_roller7_link">
    <visual>
      <origin rpy="0 0 0" xyz="0 0 0"/>
      <geometry>
        <mesh filename="../meshes/mecanum_roller.dae" scale="0.6 0.6 0.6"/>
      </geometry>
    </visual>
    <collision>
      <geometry>
        <mesh filename="../meshes/mecanum_roller.stl" scale="0.6 0.6 0.6"/>
      </geometry>
    </collision>
    <inertial>
      <origin xyz="0 0 0"/>
      <mass value="0.3"/>
      <inertia ixx="0.00024000" ixy="0.0" ixz="0.0" iyy="0.00076000" iyz="0.0" izz="0.00076000"/>
    </inertial>
  </link>
  <joint name="rear_right_roller7_joint" type="continuous">
    <origin rpy="0.7989541677433554 0.6090169187607923 -0.5313896516603536" xyz="0 -0.04344421259793467 0.03156406804810581"/>
    <axis xyz="1 0 0"/>
    <parent link="rear_right_wheel_link"/>
    <child link="rear_right_roller7_link"/>
    <dynamics damping="0.001" friction="0.0001"/>
  </joint>
  <link name="rear_right_roller6_link">
    <visual>
      <origin rpy="0 0 0" xyz="0 0 0"/>
      <geometry>
        <mesh filename="../meshes/mecanum_roller.dae" scale="0.6 0.6 0.6"/>
      </geometry>
    </visual>
    <collision>
      <geometry>
        <mesh filename="../meshes/mecanum_roller.stl" scale="0.6 0.6 0.6"/>
      </geometry>
    </collision>
    <inertial>
      <origin xyz="0 0 0"/>
      <mass value="0.3"/>
      <inertia ixx="0.00024000" ixy="0.0" ixz="0.0" iyy="0.00076000" iyz="0.0" izz="0.00076000"/>
    </inertial>
  </link>
  <joint name="rear_right_roller6_joint" type="continuous">
    <origin rpy="1.1831996401397162 0.3613671239067076 -0.7137243789447657" xyz="0 -0.026849999999999985 0.04650556418322435"/>
    <axis xyz="1 0 0"/>
    <parent link="rear_right_wheel_link"/>
    <child link="rear_right_roller6_link"/>
    <dynamics damping="0.001" friction="0.0001"/>
  </joint>
  <link name="rear_right_roller5_link">
    <visual>
      <origin rpy="0 0 0" xyz="0 0 0"/>
      <geometry>
        <mesh filename="../meshes/mecanum_roller.dae" scale="0.6 0.6 0.6"/>
      </geometry>
    </visual>
    <collision>
      <geometry>
        <mesh filename="../meshes/mecanum_roller.stl" scale="0.6 0.6 0.6"/>
      </geometry>
    </collision>
    <inertial>
      <origin xyz="0 0 0"/>
      <mass value="0.3"/>
      <inertia ixx="0.00024000" ixy="0.0" ixz="0.0" iyy="0.00076000" iyz="0.0" izz="0.00076000"/>
    </inertial>
  </link>
  <joint name="rear_right_roller5_joint" type="continuous">
    <origin rpy="1.4966127917301504 0.07398025001120949 -0.7826515949744619" xyz="0 -0.005613178477472996 0.05340582578127627"/>
    <axis xyz="1 0 0"/>
    <parent link="rear_right_wheel_link"/>
    <child link="rear_right_roller5_link"/>
    <dynamics damping="0.001" friction="0.0001"/>
  </joint>
  <link name="rear_right_roller4_link">
    <visual>
      <origin rpy="0 0 0" xyz="0 0 0"/>
      <geometry>
        <mesh filename="../meshes/mecanum_roller.dae" scale="0.6 0.6 0.6"/>
      </geometry>
    </visual>
    <collision>
      <geometry>
        <mesh filename="../meshes/mecanum_roller.stl" scale="0.6 0.6 0.6"/>
      </geometry>
    </collision>
    <inertial>
      <origin xyz="0 0 0"/>
      <mass value="0.3"/>
      <inertia ixx="0.00024000" ixy="0.0" ixz="0.0" iyy="0.00076000" iyz="0.0" izz="0.00076000"/>
    </inertial>
  </link>
  <joint name="rear_right_roller4_joint" type="continuous">
    <origin rpy="-1.3449626171032882 -0.2202852738547472 -0.7603177925108144" xyz="0 0.016594212597934678 0.051071734925049746"/>
    <axis xyz="1 0 0"/>
    <parent link="rear_right_wheel_link"/>
    <child link="rear_right_roller4_link"/>
    <dynamics damping="0.001" friction="0.0001"/>
  </joint>
  <link name="rear_right_roller3_link">
    <visual>
      <origin rpy="0 0 0" xyz="0 0 0"/>
      <geometry>
        <mesh filename="../meshes/mecanum_roller.dae" scale="0.6 0.6 0.6"/>
      </geometry>
    </visual>
    <collision>
      <geometry>
        <mesh filename="../meshes/mecanum_roller.stl" scale="0.6 0.6 0.6"/>
      </geometry>
    </collision>
    <inertial>
      <origin xyz="0 0 0"/>
      <mass value="0.3"/>
      <inertia ixx="0.00024000" ixy="0.0" ixz="0.0" iyy="0.00076000" iyz="0.0" izz="0.00076000"/>
    </inertial>
  </link>
  <joint name="rear_right_roller3_joint" type="continuous">
    <origin rpy="-1.0038406803226867 -0.4928592704898485 -0.6390993414905141" xyz="0 0.03593231356147068 0.03990687712813607"/>
    <axis xyz="1 0 0"/>
    <parent link="rear_right_wheel_link"/>
    <child link="rear_right_roller3_link"/>
    <dynamics damping="0.001" friction="0.0001"/>
  </joint>
  <link name="rear_right_roller2_link">
    <visual>
      <origin rpy="0 0 0" xyz="0 0 0"/>
      <geometry>
        <mesh filename="../meshes/mecanum_roller.dae" scale="0.6 0.6 0.6"/>
      </geometry>
    </visual>
    <collision>
      <geometry>
        <mesh filename="../meshes/mecanum_roller.stl" scale="0.6 0.6 0.6"/>
      </geometry>
    </collision>
    <inertial>
      <origin xyz="0 0 0"/>
      <mass value="0.3"/>
      <inertia ixx="0.00024000" ixy="0.0" ixz="0.0" iyy="0.00076000" iyz="0.0" izz="0.00076000"/>
    </inertial>
  </link>
  <joint name="rear_right_roller2_joint" type="continuous">
    <origin rpy="-0.5619350361043128 -0.702298780729168 -0.3863003038769115" xyz="0 0.049057391075407665 0.02184175773317047"/>
    <axis xyz="1 0 0"/>
    <parent link="rear_right_wheel_link"/>
    <child link="rear_right_roller2_link"/>
    <dynamics damping="0.001" friction="0.0001"/>
  </joint>
  <link name="rear_right_roller1_link">
    <visual>
      <origin rpy="0 0 0" xyz="0 0 0"/>
      <geometry>
        <mesh filename="../meshes/mecanum_roller.dae" scale="0.6 0.6 0.6"/>
      </geometry>
    </visual>
    <collision>
      <geometry>
        <mesh filename="../meshes/mecanum_roller.stl" scale="0.6 0.6 0.6"/>
      </geometry>
    </collision>
    <inertial>
      <origin xyz="0 0 0"/>
      <mass value="0.3"/>
      <inertia ixx="0.00024000" ixy="0.0" ixz="0.0" iyy="0.00076000" iyz="0.0" izz="0.00076000"/>
    </inertial>
  </link>
  <joint name="rear_right_roller1_joint" type="continuous">
    <origin rpy="-0.0 -0.7853981633974482 -0.0" xyz="0 0.0537 0.0"/>
    <axis xyz="1 0 0"/>
    <parent link="rear_right_wheel_link"/>
    <child link="rear_right_roller1_link"/>
    <dynamics damping="0.001" friction="0.0001"/>
  </joint>

<link name="rear_left_wheel_link">
    <visual>
      <origin rpy="0 0 0" xyz="0 0 0"/>
      <geometry>
        <mesh filename="../meshes/mecanum_wheel.dae" scale="0.6 0.6 0.6"/>
      </geometry>
    </visual>
    <collision>
      <origin rpy="0 0 0" xyz="0 0 0"/>
      <geometry>
        <mesh filename="../meshes/mecanum_wheel.stl" scale="0.6 0.6 0.6"/>
      </geometry>
    </collision>
    <inertial>
      <origin xyz="0 0 0" />
      <mass value="2.0"/>
      <inertia ixx="0.042025" ixy="0.0" ixz="0.0" iyy="0.024279" iyz="0.0" izz="0.024279"/>
    </inertial>
  </link>
  <link name="rear_left_roller15_link">
    <visual>
      <origin rpy="0 0 0" xyz="0 0 0"/>
      <geometry>
        <mesh filename="../meshes/mecanum_roller.dae" scale="0.6 0.6 0.6"/>
      </geometry>
    </visual>
    <collision>
      <geometry>
        <mesh filename="../meshes/mecanum_roller.stl" scale="0.6 0.6 0.6"/>
      </geometry>
    </collision>
    <inertial>
      <origin xyz="0 0 0"/>
      <mass value="0.3"/>
      <inertia ixx="0.00024000" ixy="0.0" ixz="0.0" iyy="0.00076000" iyz="0.0" izz="0.00076000"/>
    </inertial>
  </link>
  <joint name="rear_left_roller15_joint" type="continuous">
    <origin rpy="0.5619350361043127 0.7022987807291682 -0.38630030387691144" xyz="0 0.04905739107540767 -0.021841757733170465"/>
    <axis xyz="1 0 0"/>
    <parent link="rear_left_wheel_link"/>
    <child link="rear_left_roller15_link"/>
    <dynamics damping="0.001" friction="0.0001"/>
  </joint>
  <link name="rear_left_roller14_link">
    <visual>
      <origin rpy="0 0 0" xyz="0 0 0"/>
      <geometry>
        <mesh filename="../meshes/mecanum_roller.dae" scale="0.6 0.6 0.6"/>
      </geometry>
    </visual>
    <collision>
      <geometry>
        <mesh filename="../meshes/mecanum_roller.stl" scale="0.6 0.6 0.6"/>
      </geometry>
    </collision>
    <inertial>
      <origin xyz="0 0 0"/>
      <mass value="0.3"/>
      <inertia ixx="0.00024000" ixy="0.0" ixz="0.0" iyy="0.00076000" iyz="0.0" izz="0.00076000"/>
    </inertial>
  </link>
  <joint name="rear_left_roller14_joint" type="continuous">
    <origin rpy="1.0038406803226874 0.4928592704898482 -0.6390993414905143" xyz="0 0.03593231356147066 -0.039906877128136085"/>
    <axis xyz="1 0 0"/>
    <parent link="rear_left_wheel_link"/>
    <child link="rear_left_roller14_link"/>
    <dynamics damping="0.001" friction="0.0001"/>
  </joint>
  <link name="rear_left_roller13_link">
    <visual>
      <origin rpy="0 0 0" xyz="0 0 0"/>
      <geometry>
        <mesh filename="../meshes/mecanum_roller.dae" scale="0.6 0.6 0.6"/>
      </geometry>
    </visual>
    <collision>
      <geometry>
        <mesh filename="../meshes/mecanum_roller.stl" scale="0.6 0.6 0.6"/>
      </geometry>
    </collision>
    <inertial>
      <origin xyz="0 0 0"/>
      <mass value="0.3"/>
      <inertia ixx="0.00024000" ixy="0.0" ixz="0.0" iyy="0.00076000" iyz="0.0" izz="0.00076000"/>
    </inertial>
  </link>
  <joint name="rear_left_roller13_joint" type="continuous">
    <origin rpy="1.3449626171032882 0.22028527385474703 -0.7603177925108144" xyz="0 0.01659421259793466 -0.051071734925049746"/>
    <axis xyz="1 0 0"/>
    <parent link="rear_left_wheel_link"/>
    <child link="rear_left_roller13_link"/>
    <dynamics damping="0.001" friction="0.0001"/>
  </joint>
  <link name="rear_left_roller12_link">
    <visual>
      <origin rpy="0 0 0" xyz="0 0 0"/>
      <geometry>
        <mesh filename="../meshes/mecanum_roller.dae" scale="0.6 0.6 0.6"/>
      </geometry>
    </visual>
    <collision>
      <geometry>
        <mesh filename="../meshes/mecanum_roller.stl" scale="0.6 0.6 0.6"/>
      </geometry>
    </collision>
    <inertial>
      <origin xyz="0 0 0"/>
      <mass value="0.3"/>
      <inertia ixx="0.00024000" ixy="0.0" ixz="0.0" iyy="0.00076000" iyz="0.0" izz="0.00076000"/>
    </inertial>
  </link>
  <joint name="rear_left_roller12_joint" type="continuous">
    <origin rpy="-1.4966127917301506 -0.07398025001120935 -0.7826515949744619" xyz="0 -0.0056131784774729855 -0.05340582578127628"/>
    <axis xyz="1 0 0"/>
    <parent link="rear_left_wheel_link"/>
    <child link="rear_left_roller12_link"/>
    <dynamics damping="0.001" friction="0.0001"/>
  </joint>
  <link name="rear_left_roller11_link">
    <visual>
      <origin rpy="0 0 0" xyz="0 0 0"/>
      <geometry>
        <mesh filename="../meshes/mecanum_roller.dae" scale="0.6 0.6 0.6"/>
      </geometry>
    </visual>
    <collision>
      <geometry>
        <mesh filename="../meshes/mecanum_roller.stl" scale="0.6 0.6 0.6"/>
      </geometry>
    </collision>
    <inertial>
      <origin xyz="0 0 0"/>
      <mass value="0.3"/>
      <inertia ixx="0.00024000" ixy="0.0" ixz="0.0" iyy="0.00076000" iyz="0.0" izz="0.00076000"/>
    </inertial>
  </link>
  <joint name="rear_left_roller11_joint" type="continuous">
    <origin rpy="-1.1831996401397156 -0.3613671239067081 -0.7137243789447655" xyz="0 -0.026850000000000023 -0.04650556418322434"/>
    <axis xyz="1 0 0"/>
    <parent link="rear_left_wheel_link"/>
    <child link="rear_left_roller11_link"/>
    <dynamics damping="0.001" friction="0.0001"/>
  </joint>
  <link name="rear_left_roller10_link">
    <visual>
      <origin rpy="0 0 0" xyz="0 0 0"/>
      <geometry>
        <mesh filename="../meshes/mecanum_roller.dae" scale="0.6 0.6 0.6"/>
      </geometry>
    </visual>
    <collision>
      <geometry>
        <mesh filename="../meshes/mecanum_roller.stl" scale="0.6 0.6 0.6"/>
      </geometry>
    </collision>
    <inertial>
      <origin xyz="0 0 0"/>
      <mass value="0.3"/>
      <inertia ixx="0.00024000" ixy="0.0" ixz="0.0" iyy="0.00076000" iyz="0.0" izz="0.00076000"/>
    </inertial>
  </link>
  <joint name="rear_left_roller10_joint" type="continuous">
    <origin rpy="-0.7989541677433551 -0.6090169187607924 -0.5313896516603533" xyz="0 -0.04344421259793468 -0.0315640680481058"/>
    <axis xyz="1 0 0"/>
    <parent link="rear_left_wheel_link"/>
    <child link="rear_left_roller10_link"/>
    <dynamics damping="0.001" friction="0.0001"/>
  </joint>
  <link name="rear_left_roller9_link">
    <visual>
      <origin rpy="0 0 0" xyz="0 0 0"/>
      <geometry>
        <mesh filename="../meshes/mecanum_roller.dae" scale="0.6 0.6 0.6"/>
      </geometry>
    </visual>
    <collision>
      <geometry>
        <mesh filename="../meshes/mecanum_roller.stl" scale="0.6 0.6 0.6"/>
      </geometry>
    </collision>
    <inertial>
      <origin xyz="0 0 0"/>
      <mass value="0.3"/>
      <inertia ixx="0.00024000" ixy="0.0" ixz="0.0" iyy="0.00076000" iyz="0.0" izz="0.00076000"/>
    </inertial>
  </link>
  <joint name="rear_left_roller9_joint" type="continuous">
    <origin rpy="-0.29200750368454736 -0.7637777909460687 -0.20499125187874406" xyz="0 -0.052526526159405354 -0.011164857796913686"/>
    <axis xyz="1 0 0"/>
    <parent link="rear_left_wheel_link"/>
    <child link="rear_left_roller9_link"/>
    <dynamics damping="0.001" friction="0.0001"/>
  </joint>
  <link name="rear_left_roller8_link">
    <visual>
      <origin rpy="0 0 0" xyz="0 0 0"/>
      <geometry>
        <mesh filename="../meshes/mecanum_roller.dae" scale="0.6 0.6 0.6"/>
      </geometry>
    </visual>
    <collision>
      <geometry>
        <mesh filename="../meshes/mecanum_roller.stl" scale="0.6 0.6 0.6"/>
      </geometry>
    </collision>
    <inertial>
      <origin xyz="0 0 0"/>
      <mass value="0.3"/>
      <inertia ixx="0.00024000" ixy="0.0" ixz="0.0" iyy="0.00076000" iyz="0.0" izz="0.00076000"/>
    </inertial>
  </link>
  <joint name="rear_left_roller8_joint" type="continuous">
    <origin rpy="0.2920075036845471 -0.7637777909460687 0.20499125187874387" xyz="0 -0.05252652615940536 0.011164857796913676"/>
    <axis xyz="1 0 0"/>
    <parent link="rear_left_wheel_link"/>
    <child link="rear_left_roller8_link"/>
    <dynamics damping="0.001" friction="0.0001"/>
  </joint>
  <link name="rear_left_roller7_link">
    <visual>
      <origin rpy="0 0 0" xyz="0 0 0"/>
      <geometry>
        <mesh filename="../meshes/mecanum_roller.dae" scale="0.6 0.6 0.6"/>
      </geometry>
    </visual>
    <collision>
      <geometry>
        <mesh filename="../meshes/mecanum_roller.stl" scale="0.6 0.6 0.6"/>
      </geometry>
    </collision>
    <inertial>
      <origin xyz="0 0 0"/>
      <mass value="0.3"/>
      <inertia ixx="0.00024000" ixy="0.0" ixz="0.0" iyy="0.00076000" iyz="0.0" izz="0.00076000"/>
    </inertial>
  </link>
  <joint name="rear_left_roller7_joint" type="continuous">
    <origin rpy="0.7989541677433554 -0.6090169187607923 0.5313896516603536" xyz="0 -0.04344421259793467 0.03156406804810581"/>
    <axis xyz="1 0 0"/>
    <parent link="rear_left_wheel_link"/>
    <child link="rear_left_roller7_link"/>
    <dynamics damping="0.001" friction="0.0001"/>
  </joint>
  <link name="rear_left_roller6_link">
    <visual>
      <origin rpy="0 0 0" xyz="0 0 0"/>
      <geometry>
        <mesh filename="../meshes/mecanum_roller.dae" scale="0.6 0.6 0.6"/>
      </geometry>
    </visual>
    <collision>
      <geometry>
        <mesh filename="../meshes/mecanum_roller.stl" scale="0.6 0.6 0.6"/>
      </geometry>
    </collision>
    <inertial>
      <origin xyz="0 0 0"/>
      <mass value="0.3"/>
      <inertia ixx="0.00024000" ixy="0.0" ixz="0.0" iyy="0.00076000" iyz="0.0" izz="0.00076000"/>
    </inertial>
  </link>
  <joint name="rear_left_roller6_joint" type="continuous">
    <origin rpy="1.1831996401397162 -0.3613671239067076 0.7137243789447657" xyz="0 -0.026849999999999985 0.04650556418322435"/>
    <axis xyz="1 0 0"/>
    <parent link="rear_left_wheel_link"/>
    <child link="rear_left_roller6_link"/>
    <dynamics damping="0.001" friction="0.0001"/>
  </joint>
  <link name="rear_left_roller5_link">
    <visual>
      <origin rpy="0 0 0" xyz="0 0 0"/>
      <geometry>
        <mesh filename="../meshes/mecanum_roller.dae" scale="0.6 0.6 0.6"/>
      </geometry>
    </visual>
    <collision>
      <geometry>
        <mesh filename="../meshes/mecanum_roller.stl" scale="0.6 0.6 0.6"/>
      </geometry>
    </collision>
    <inertial>
      <origin xyz="0 0 0"/>
      <mass value="0.3"/>
      <inertia ixx="0.00024000" ixy="0.0" ixz="0.0" iyy="0.00076000" iyz="0.0" izz="0.00076000"/>
    </inertial>
  </link>
  <joint name="rear_left_roller5_joint" type="continuous">
    <origin rpy="1.4966127917301504 -0.07398025001120949 0.7826515949744619" xyz="0 -0.005613178477472996 0.05340582578127627"/>
    <axis xyz="1 0 0"/>
    <parent link="rear_left_wheel_link"/>
    <child link="rear_left_roller5_link"/>
    <dynamics damping="0.001" friction="0.0001"/>
  </joint>
  <link name="rear_left_roller4_link">
    <visual>
      <origin rpy="0 0 0" xyz="0 0 0"/>
      <geometry>
        <mesh filename="../meshes/mecanum_roller.dae" scale="0.6 0.6 0.6"/>
      </geometry>
    </visual>
    <collision>
      <geometry>
        <mesh filename="../meshes/mecanum_roller.stl" scale="0.6 0.6 0.6"/>
      </geometry>
    </collision>
    <inertial>
      <origin xyz="0 0 0"/>
      <mass value="0.3"/>
      <inertia ixx="0.00024000" ixy="0.0" ixz="0.0" iyy="0.00076000" iyz="0.0" izz="0.00076000"/>
    </inertial>
  </link>
  <joint name="rear_left_roller4_joint" type="continuous">
    <origin rpy="-1.3449626171032882 0.2202852738547472 0.7603177925108144" xyz="0 0.016594212597934678 0.051071734925049746"/>
    <axis xyz="1 0 0"/>
    <parent link="rear_left_wheel_link"/>
    <child link="rear_left_roller4_link"/>
    <dynamics damping="0.001" friction="0.0001"/>
  </joint>
  <link name="rear_left_roller3_link">
    <visual>
      <origin rpy="0 0 0" xyz="0 0 0"/>
      <geometry>
        <mesh filename="../meshes/mecanum_roller.dae" scale="0.6 0.6 0.6"/>
      </geometry>
    </visual>
    <collision>
      <geometry>
        <mesh filename="../meshes/mecanum_roller.stl" scale="0.6 0.6 0.6"/>
      </geometry>
    </collision>
    <inertial>
      <origin xyz="0 0 0"/>
      <mass value="0.3"/>
      <inertia ixx="0.00024000" ixy="0.0" ixz="0.0" iyy="0.00076000" iyz="0.0" izz="0.00076000"/>
    </inertial>
  </link>
  <joint name="rear_left_roller3_joint" type="continuous">
    <origin rpy="-1.0038406803226867 0.4928592704898485 0.6390993414905141" xyz="0 0.03593231356147068 0.03990687712813607"/>
    <axis xyz="1 0 0"/>
    <parent link="rear_left_wheel_link"/>
    <child link="rear_left_roller3_link"/>
    <dynamics damping="0.001" friction="0.0001"/>
  </joint>
  <link name="rear_left_roller2_link">
    <visual>
      <origin rpy="0 0 0" xyz="0 0 0"/>
      <geometry>
        <mesh filename="../meshes/mecanum_roller.dae" scale="0.6 0.6 0.6"/>
      </geometry>
    </visual>
    <collision>
      <geometry>
        <mesh filename="../meshes/mecanum_roller.stl" scale="0.6 0.6 0.6"/>
      </geometry>
    </collision>
    <inertial>
      <origin xyz="0 0 0"/>
      <mass value="0.3"/>
      <inertia ixx="0.00024000" ixy="0.0" ixz="0.0" iyy="0.00076000" iyz="0.0" izz="0.00076000"/>
    </inertial>
  </link>
  <joint name="rear_left_roller2_joint" type="continuous">
    <origin rpy="-0.5619350361043128 0.702298780729168 0.3863003038769115" xyz="0 0.049057391075407665 0.02184175773317047"/>
    <axis xyz="1 0 0"/>
    <parent link="rear_left_wheel_link"/>
    <child link="rear_left_roller2_link"/>
    <dynamics damping="0.001" friction="0.0001"/>
  </joint>
  <link name="rear_left_roller1_link">
    <visual>
      <origin rpy="0 0 0" xyz="0 0 0"/>
      <geometry>
        <mesh filename="../meshes/mecanum_roller.dae" scale="0.6 0.6 0.6"/>
      </geometry>
    </visual>
    <collision>
      <geometry>
        <mesh filename="../meshes/mecanum_roller.stl" scale="0.6 0.6 0.6"/>
      </geometry>
    </collision>
    <inertial>
      <origin xyz="0 0 0"/>
      <mass value="0.3"/>
      <inertia ixx="0.00024000" ixy="0.0" ixz="0.0" iyy="0.00076000" iyz="0.0" izz="0.00076000"/>
    </inertial>
  </link>
  <joint name="rear_left_roller1_joint" type="continuous">
    <origin rpy="-0.0 0.7853981633974482 0.0" xyz="0 0.0537 0.0"/>
    <axis xyz="1 0 0"/>
    <parent link="rear_left_wheel_link"/>
    <child link="rear_left_roller1_link"/>
    <dynamics damping="0.001" friction="0.0001"/>
  </joint>


</robot>
